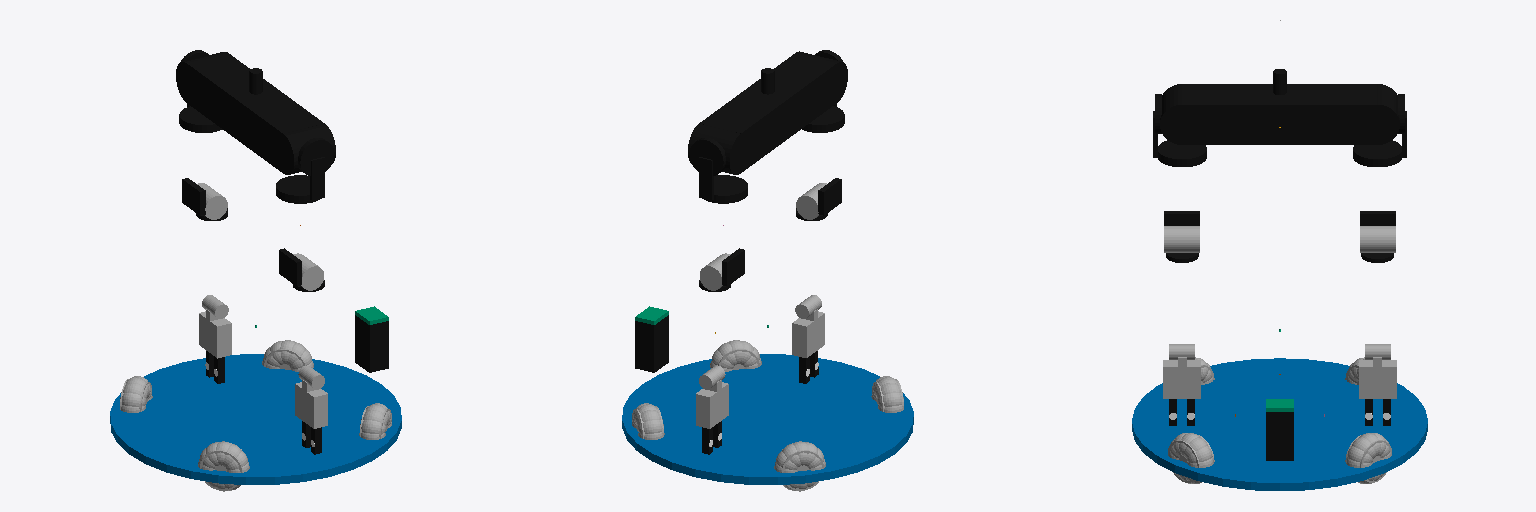
--- Facts derived from the render (not from the file) ---
3 views of the same robot in one strip: view 1: azimuth 30°, elevation 25°; view 2: azimuth 150°, elevation 25°; view 3: azimuth 270°, elevation 25° (orthographic).
Robot: amigo — 126 links, 125 joints (24 revolute, 52 continuous, 1 prismatic, 48 fixed); root link base_link; default pose: every joint at zero.
Links seen in each view (by area): view 1: base_plate, clavicles, base_laser, shoulder_mount_right, hand_left, hand_right, upper_arm_top_right, shoulder_link1_right, upper_arm_top_left, elbow_extra_block_left, elbow_extra_block_right, elbow_extra_block2_right (+3 smaller); view 2: base_plate, clavicles, base_laser, shoulder_mount_left, hand_right, hand_left, upper_arm_top_left, shoulder_link1_left, upper_arm_top_right, elbow_extra_block_right, shoulder_mount_right, elbow_extra_block_left (+3 smaller); view 3: base_plate, clavicles, shoulder_mount_right, shoulder_mount_left, hand_right, hand_left, base_laser, upper_arm_top_right, upper_arm_top_left, elbow_extra_block2_right, elbow_extra_block2_left, elbow_extra_block_right (+1 smaller).
Link boxes in pixels (x1=…): base_plate: x1=110, y1=354, x2=401, y2=484; clavicles: x1=187, y1=54, x2=324, y2=172; base_laser: x1=355, y1=315, x2=388, y2=372; shoulder_mount_right: x1=273, y1=124, x2=335, y2=174; hand_left: x1=199, y1=311, x2=231, y2=358; hand_right: x1=295, y1=382, x2=327, y2=428; upper_arm_top_right: x1=276, y1=175, x2=321, y2=203; shoulder_link1_right: x1=298, y1=138, x2=334, y2=175; upper_arm_top_left: x1=179, y1=106, x2=222, y2=132; elbow_extra_block_left: x1=182, y1=178, x2=205, y2=215; elbow_extra_block_right: x1=279, y1=248, x2=301, y2=286; elbow_extra_block2_right: x1=293, y1=253, x2=323, y2=290; base_plate: x1=622, y1=354, x2=913, y2=484; clavicles: x1=699, y1=53, x2=836, y2=172; base_laser: x1=635, y1=315, x2=668, y2=372; shoulder_mount_left: x1=688, y1=124, x2=750, y2=174; hand_right: x1=792, y1=311, x2=824, y2=357; hand_left: x1=696, y1=382, x2=728, y2=428; upper_arm_top_left: x1=702, y1=175, x2=747, y2=203; shoulder_link1_left: x1=689, y1=138, x2=725, y2=175; upper_arm_top_right: x1=802, y1=106, x2=844, y2=132; elbow_extra_block_right: x1=818, y1=178, x2=841, y2=215; shoulder_mount_right: x1=796, y1=51, x2=847, y2=103; elbow_extra_block_left: x1=722, y1=248, x2=744, y2=285; base_plate: x1=1132, y1=358, x2=1427, y2=490; clavicles: x1=1183, y1=84, x2=1376, y2=144; shoulder_mount_right: x1=1160, y1=84, x2=1203, y2=144; shoulder_mount_left: x1=1356, y1=84, x2=1399, y2=144; hand_right: x1=1163, y1=360, x2=1200, y2=398; hand_left: x1=1359, y1=360, x2=1396, y2=398; base_laser: x1=1266, y1=412, x2=1293, y2=460; upper_arm_top_right: x1=1158, y1=140, x2=1206, y2=166; upper_arm_top_left: x1=1353, y1=140, x2=1401, y2=166; elbow_extra_block2_right: x1=1164, y1=226, x2=1199, y2=252; elbow_extra_block2_left: x1=1360, y1=226, x2=1395, y2=252; elbow_extra_block_right: x1=1164, y1=211, x2=1199, y2=225.
Size in the robot's own frame: 0.6681 by 0.666 by 1.05 metres.
14 mesh visuals loaded from 10 distinct referenced files (10 Collada DAE).

URDF robot description (amigo):
<?xml version="1.0" ?>
<!-- =================================================================================== -->
<!-- |    This document was autogenerated by xacro from robot_complex.urdf.xacro       | -->
<!-- |    EDITING THIS FILE BY HAND IS NOT RECOMMENDED                                 | -->
<!-- =================================================================================== -->
<robot name="amigo" xmlns:controller="http://playerstage.sourceforge.net/gazebo/xmlschema/#controller" xmlns:interface="http://playerstage.sourceforge.net/gazebo/xmlschema/#interface" xmlns:sensor="http://playerstage.sourceforge.net/gazebo/xmlschema/#sensor" xmlns:xacro="http://ros.org/wiki/xacro">
  <author>Rob Janssen</author>
  <license>BSD</license>
  <review notes="" status="unreviewed"/>
  <!--get link & joint definitions -->
  <author>Kris van Tienhoven</author>
  <license>BSD</license>
  <review notes="" status="unreviewed"/>
  <!--get custom materials -->
  <author>Kris van Tienhoven</author>
  <license>BSD</license>
  <review notes="" status="unreviewed"/>
  <material name="Blue">
    <color rgba="0.0 0.0 0.8 1.0"/>
  </material>
  <material name="Green">
    <color rgba="0.0 0.8 0.0 1.0"/>
  </material>
  <material name="Grey">
    <color rgba="0.7 0.7 0.7 1.0"/>
  </material>
  <material name="Grey2">
    <color rgba="0.9 0.9 0.9 1.0"/>
  </material>
  <material name="Red">
    <color rgba="0.8 0.0 0.0 1.0"/>
  </material>
  <material name="White">
    <color rgba="1.0 1.0 1.0 1.0"/>
  </material>
  <material name="Black">
    <color rgba="0.1 0.1 0.1 1.0"/>
  </material>
  <material name="LightGrey">
    <color rgba="0.6 0.6 0.6 1.0"/>
  </material>
  <material name="bottomcovers">
    <texture filename="package://amigo_robot_model_groovy/Media/materials/textures/bottomcovers/finalreduced.jpg"/>
  </material>
  <material name="white">
    <texture filename="package://amigo_robot_model_groovy/Media/materials/textures/white/white.jpg"/>
  </material>
  <material name="logo">
    <texture filename="package://amigo_robot_model_groovy/Media/materials/textures/logo/tue.jpg"/>
  </material>
  <material name="aluminum">
    <texture filename="package://amigo_robot_model_groovy/Media/materials/textures/aluminum/aluminium_0001_c.jpg"/>
  </material>
  <material name="orange">
    <texture filename="package://amigo_robot_model_groovy/Media/materials/textures/orange/orange.jpg"/>
  </material>
  <!--========BUILD BODY======-->
  <author>Rob Janssen, Kris van Tienhoven</author>
  <license>BSD</license>
  <review notes="" status="unreviewed"/>
  <link name="torso">
    <inertial>
      <origin rpy="0 0 0" xyz="0.0 0.0 0.0"/>
      <mass value="16"/>
      <inertia ixx="0.01" ixy="0" ixz="0" iyy="0.01" iyz="0" izz="0.01"/>
    </inertial>
    <visual>
      <origin rpy="-1.5708 0 -1.5708" xyz="0.045 0.0 0.06"/>
      <geometry>
        <mesh filename="package://amigo_robot_model_groovy/Media/meshes/torsocovers.dae" scale="0.0004 0.0004 0.0004"/>
      </geometry>
      <material name="white"/>
    </visual>
    <collision>
      <origin rpy="-1.5708 0 -1.5708" xyz="0.045 0.0 0.06"/>
      <geometry>
        <mesh filename="package://amigo_robot_model_groovy/Media/meshes/torsocovers.dae" scale="0.0004 0.0004 0.0004"/>
      </geometry>
    </collision>
  </link>
  <gazebo reference="torso">
    <material>amigo_robot_model_groovy/white</material>
    <turnGravityOff>false</turnGravityOff>
  </gazebo>
  <link name="torso_slider">
    <inertial>
      <origin rpy="0 0 0" xyz="0 0 0"/>
      <mass value="0.1"/>
      <inertia ixx="0.01" ixy="0" ixz="0" iyy="0.01" iyz="0" izz="0.01"/>
    </inertial>
    <visual>
      <origin rpy="0 0 1.5708" xyz="0.05 0 0.0"/>
      <geometry>
        <mesh filename="package://amigo_robot_model_groovy/Media/meshes/torsoslidertextured.dae" scale="0.004 0.004 0.004"/>
      </geometry>
      <material name="aluminum"/>
    </visual>
    <collision>
      <origin rpy="0 0 1.5708" xyz="0.05 0 0.0"/>
      <geometry>
        <mesh filename="package://amigo_robot_model_groovy/Media/meshes/torsoslidertextured.dae" scale="0.004 0.004 0.004"/>
      </geometry>
    </collision>
  </link>
  <gazebo reference="torso_slider">
    <material>amigo_robot_model_groovy/aluminum</material>
    <turnGravityOff>false</turnGravityOff>
  </gazebo>
  <link name="base">
    <inertial>
      <origin rpy="0 0 0" xyz="0.0 0.0 0.3275"/>
      <mass value="20"/>
      <inertia ixx="2.63" ixy="0" ixz="0" iyy="2.63" iyz="0" izz="2.4"/>
    </inertial>
    <visual>
      <origin rpy="0 0 -1.5708" xyz="0.0 0.0 0.23"/>
      <geometry>
        <mesh filename="package://amigo_robot_model_groovy/Media/meshes/bottomcovers.dae" scale="0.0004 0.0004 0.0004"/>
      </geometry>
      <material name="bottomcovers"/>
    </visual>
    <collision>
      <origin rpy="0 0 -1.5708" xyz="0.0 0.0 0.23"/>
      <geometry>
        <mesh filename="package://amigo_robot_model_groovy/Media/meshes/bottomcovers.dae" scale="0.0004 0.0004 0.0004"/>
      </geometry>
    </collision>
  </link>
  <gazebo reference="base">
    <material>amigo_robot_model_groovy/bottomcovers</material>
    <turnGravityOff>false</turnGravityOff>
  </gazebo>
  <link name="base_link">
    <inertial>
      <origin rpy="0 0 0" xyz="0.0 0.0 0.0"/>
      <mass value="0"/>
      <inertia ixx="0" ixy="0" ixz="0" iyy="0" iyz="0" izz="0"/>
    </inertial>
    <visual>
      <origin rpy="0 0 0" xyz="0.0 0.0 0.0"/>
      <geometry>
        <cylinder length="0.00" radius="0.0"/>
      </geometry>
      <material name="Red">
     </material>
    </visual>
    <collision>
      <origin rpy="0 0 0" xyz="0.0 0.0 0.0"/>
      <geometry>
        <cylinder length="0.00" radius="0.0"/>
      </geometry>
    </collision>
  </link>
  <gazebo reference="base_link">
    <material>Gazebo/Red</material>
    <turnGravityOff>false</turnGravityOff>
  </gazebo>
  <joint name="spindle_joint" type="prismatic">
    <parent link="base"/>
    <child link="torso_slider"/>
    <axis xyz="1 0 0"/>
    <origin rpy="3.14159265 -1.5708 0" xyz="0.0 0.0 0.58"/>
    <dynamics damping="3" friction="0.0"/>
    <!--*-->
    <limit effort="30" lower="0.0" upper="0.41" velocity="1.0"/>
    <!--*-->
  </joint>
  <joint name="base_link_joint" type="fixed">
    <parent link="base_link"/>
    <child link="base"/>
    <axis xyz="1 0 0"/>
    <origin rpy="0 0 0" xyz="0.0 0.0 0.055"/>
  </joint>
  <joint name="torso_slider_joint" type="fixed">
    <parent link="torso_slider"/>
    <child link="torso"/>
    <axis xyz="1 0 0"/>
    <origin rpy="0 0 0" xyz="0.135 0.0 0.0"/>
  </joint>
  <!--extra body visuals-->
  <author>Kris van Tienhoven</author>
  <license>BSD</license>
  <review notes="" status="unreviewed"/>
  <link name="base_plate">
    <inertial>
      <origin rpy="0 0 0" xyz="0.0 0.0 0.0"/>
      <mass value="0.1"/>
      <inertia ixx="0.01" ixy="0" ixz="0" iyy="0.01" iyz="0" izz="0.01"/>
    </inertial>
    <visual>
      <origin rpy="0 0 0" xyz="0.0 0.0 0.0"/>
      <geometry>
        <cylinder length="0.02" radius="0.333"/>
      </geometry>
      <material name="aluminum">
     </material>
    </visual>
    <collision>
      <origin rpy="0 0 0" xyz="0.0 0.0 0.0"/>
      <geometry>
        <cylinder length="0.02" radius="0.333"/>
      </geometry>
    </collision>
  </link>
  <gazebo reference="base_plate">
    <material>amigo_robot_model_groovy/aluminum</material>
    <turnGravityOff>false</turnGravityOff>
  </gazebo>
  <joint name="base_plate_joint" type="fixed">
    <parent link="base_link"/>
    <child link="base_plate"/>
    <axis xyz="1 0 0"/>
    <origin rpy="0 0 0" xyz="0.0 0.0 0.05"/>
  </joint>
  <link name="torso_assist_slider_right">
    <inertial>
      <origin rpy="0 0 0" xyz="0 0 0"/>
      <mass value="0.01"/>
      <inertia ixx="0.01" ixy="0" ixz="0" iyy="0.01" iyz="0" izz="0.01"/>
    </inertial>
    <visual>
      <origin rpy="0 1.5708 0" xyz="-0.4  0.0 0.0"/>
      <geometry>
        <mesh filename="package://amigo_robot_model_groovy/Media/meshes/torsoassistslidertextured.dae" scale="0.004 0.004 0.005"/>
      </geometry>
      <material name="aluminum"/>
    </visual>
    <collision>
      <origin rpy="0 1.5708 0" xyz="-0.4  0.0 0.0"/>
      <geometry>
        <mesh filename="package://amigo_robot_model_groovy/Media/meshes/torsoassistslidertextured.dae" scale="0.004 0.004 0.005"/>
      </geometry>
    </collision>
  </link>
  <gazebo reference="torso_assist_slider_right">
    <material>amigo_robot_model_groovy/aluminum</material>
    <turnGravityOff>false</turnGravityOff>
  </gazebo>
  <link name="torso_assist_slider_left">
    <inertial>
      <origin rpy="0 0 0" xyz="0 0 0"/>
      <mass value="0.01"/>
      <inertia ixx="0.01" ixy="0" ixz="0" iyy="0.01" iyz="0" izz="0.01"/>
    </inertial>
    <visual>
      <origin rpy="0 1.5708 0" xyz="-0.4  0.0 0.0"/>
      <geometry>
        <mesh filename="package://amigo_robot_model_groovy/Media/meshes/torsoassistslidertextured.dae" scale="0.004 0.004 0.005"/>
      </geometry>
      <material name="aluminum"/>
    </visual>
    <collision>
      <origin rpy="0 1.5708 0" xyz="-0.4  0.0 0.0"/>
      <geometry>
        <mesh filename="package://amigo_robot_model_groovy/Media/meshes/torsoassistslidertextured.dae" scale="0.004 0.004 0.005"/>
      </geometry>
    </collision>
  </link>
  <gazebo reference="torso_assist_slider_left">
    <material>amigo_robot_model_groovy/aluminum</material>
    <turnGravityOff>false</turnGravityOff>
  </gazebo>
  <link name="torso_assist_slider_back">
    <inertial>
      <origin rpy="0 0 0" xyz="0 0 0"/>
      <mass value="0.01"/>
      <inertia ixx="0.01" ixy="0" ixz="0" iyy="0.01" iyz="0" izz="0.01"/>
    </inertial>
    <visual>
      <origin rpy="0 1.5708 0" xyz="-0.4 0.0 0.0"/>
      <geometry>
        <mesh filename="package://amigo_robot_model_groovy/Media/meshes/torsoassistslidertextured.dae" scale="0.004 0.004 0.005"/>
      </geometry>
      <material name="aluminum"/>
    </visual>
    <collision>
      <origin rpy="0 1.5708 0" xyz="-0.4 0.0 0.0"/>
      <geometry>
        <mesh filename="package://amigo_robot_model_groovy/Media/meshes/torsoassistslidertextured.dae" scale="0.004 0.004 0.005"/>
      </geometry>
    </collision>
  </link>
  <gazebo reference="torso_assist_slider_back">
    <material>amigo_robot_model_groovy/aluminum</material>
    <turnGravityOff>false</turnGravityOff>
  </gazebo>
  <joint name="torso_slider_assist_joint_right" type="fixed">
    <parent link="torso"/>
    <child link="torso_assist_slider_right"/>
    <origin rpy="0 0 0" xyz="-0.3 0.1 0.0"/>
  </joint>
  <joint name="torso_slider_assist_joint_left" type="fixed">
    <parent link="torso"/>
    <child link="torso_assist_slider_left"/>
    <origin rpy="0 0 0" xyz="-0.3 -0.1 0.0"/>
  </joint>
  <joint name="torso_slider_assist_joint_back" type="fixed">
    <parent link="torso"/>
    <child link="torso_assist_slider_back"/>
    <origin rpy="1.5708 0 0" xyz="-0.3 0.0 -0.1"/>
  </joint>
  <link name="clavicles">
    <inertial>
      <origin rpy="0 0 0" xyz="0 0 0"/>
      <mass value="0.01"/>
      <inertia ixx="0.01" ixy="0" ixz="0" iyy="0.01" iyz="0" izz="0.01"/>
    </inertial>
    <visual>
      <origin rpy="0 0 0" xyz="0.0 0.0 0.0"/>
      <geometry>
        <box size="0.1 0.436 0.11"/>
      </geometry>
      <material name="Black">
     </material>
    </visual>
    <collision>
      <origin rpy="0 0 0" xyz="0.0 0.0 0.0"/>
      <geometry>
        <box size="0.1 0.436 0.11"/>
      </geometry>
    </collision>
  </link>
  <gazebo reference="clavicles">
    <material>Gazebo/Black</material>
    <turnGravityOff>false</turnGravityOff>
  </gazebo>
  <joint name="clavicle_joint" type="fixed">
    <parent link="torso"/>
    <child link="clavicles"/>
    <origin rpy="0 0 0" xyz="0.05 0.0 0.0"/>
  </joint>
  <!--========BUILD LASER======-->
  <author>Kris van Tienhoven</author>
  <license>BSD</license>
  <review notes="" status="unreviewed"/>
  <link name="base_laser">
    <inertial>
      <origin rpy="0 0 0" xyz="0.0 0.0 0.0"/>
      <mass value="0.5"/>
      <inertia ixx="0.0001" ixy="0" ixz="0" iyy="0.0001" iyz="0" izz="0.0001"/>
    </inertial>
    <visual>
      <origin rpy="0 0 0" xyz="-0.005 0.0 -0.065"/>
      <geometry>
        <box size="0.05 0.065 0.12"/>
      </geometry>
      <material name="Black">
     </material>
    </visual>
    <collision>
      <origin rpy="0 0 0" xyz="-0.005 0.0 -0.065"/>
      <geometry>
        <box size="0.05 0.065 0.12"/>
      </geometry>
    </collision>
  </link>
  <gazebo reference="base_laser">
    <material>Gazebo/Black</material>
    <turnGravityOff>false</turnGravityOff>
  </gazebo>
  <joint name="base_laser_joint" type="fixed">
    <parent link="base"/>
    <child link="base_laser"/>
    <origin rpy="0 0 0" xyz="0.31 0.0 0.185"/>
    <axis xyz="0 1 0"/>
    <dynamics damping="0.1" friction="0"/>
    <limit effort="13.4" lower="-0.7809" upper="1.5708" velocity="1.0"/>
  </joint>
  <link name="lasertop">
    <inertial>
      <origin rpy="0 0 0" xyz="0.0 0.0 0.0"/>
      <mass value="0.01"/>
      <inertia ixx="0.0001" ixy="0" ixz="0" iyy="0.0001" iyz="0" izz="0.0001"/>
    </inertial>
    <visual>
      <origin rpy="0 0 0" xyz="-0.005 0.0 0.0"/>
      <geometry>
        <box size="0.05 0.065 0.01"/>
      </geometry>
      <material name="orange">
     </material>
    </visual>
    <collision>
      <origin rpy="0 0 0" xyz="-0.005 0.0 0.0"/>
      <geometry>
        <box size="0.05 0.065 0.01"/>
      </geometry>
    </collision>
  </link>
  <gazebo reference="lasertop">
    <material>amigo_robot_model_groovy/orange</material>
    <turnGravityOff>false</turnGravityOff>
  </gazebo>
  <joint name="lasertop_joint" type="fixed">
    <parent link="base_laser"/>
    <child link="lasertop"/>
  </joint>
  <link name="logo">
    <inertial>
      <origin rpy="0 0 0" xyz="0.0 0.0 0.0"/>
      <mass value="0.01"/>
      <inertia ixx="0.0001" ixy="0" ixz="0" iyy="0.0001" iyz="0" izz="0.0001"/>
    </inertial>
    <visual>
      <origin rpy="0 0 3.1415" xyz="0.025 0.0 -0.14"/>
      <geometry>
        <mesh filename="package://amigo_robot_model_groovy/Media/meshes/logo.dae" scale="0.0016 0.0016 0.0016"/>
      </geometry>
      <material name="logo"/>
    </visual>
    <collision>
      <origin rpy="0 0 3.1415" xyz="0.025 0.0 -0.14"/>
      <geometry>
        <mesh filename="package://amigo_robot_model_groovy/Media/meshes/logo.dae" scale="0.0016 0.0016 0.0016"/>
      </geometry>
    </collision>
  </link>
  <gazebo reference="logo">
    <material>amigo_robot_model_groovy/logo</material>
    <turnGravityOff>false</turnGravityOff>
  </gazebo>
  <joint name="logo_joint" type="fixed">
    <parent link="base_laser"/>
    <child link="logo"/>
  </joint>
  <!--========BUILD HEAD======-->
  <author>Kris van Tienhoven</author>
  <license>BSD</license>
  <review notes="" status="unreviewed"/>
  <link name="head_mount">
    <inertial>
      <origin rpy="0 0 0" xyz="0.0 0.0 0.0"/>
      <mass value="0.001"/>
      <inertia ixx="0.0001" ixy="0" ixz="0" iyy="0.0001" iyz="0" izz="0.0001"/>
    </inertial>
  </link>
  <joint name="head_mount_joint" type="fixed">
    <parent link="torso"/>
    <child link="head_mount"/>
    <axis xyz="0 0 1"/>
    <origin rpy="  0.0 0.0 0.0" xyz="0.097 0.0 0.0"/>
  </joint>
  <link name="neck_pan">
    <inertial>
      <origin rpy="0 0 0" xyz="0.0 0.0 0.0335"/>
      <mass value="0.05"/>
      <inertia ixx="0.0001" ixy="0" ixz="0" iyy="0.0001" iyz="0" izz="0.0001"/>
    </inertial>
    <visual>
      <origin rpy="0 0 0" xyz="0.0 0.0 0.0335"/>
      <geometry>
        <cylinder length="0.0525" radius="0.015"/>
      </geometry>
      <material name="Black">
     </material>
    </visual>
    <collision>
      <origin rpy="0 0 0" xyz="0.0 0.0 0.0335"/>
      <geometry>
        <cylinder length="0.0525" radius="0.015"/>
      </geometry>
    </collision>
  </link>
  <gazebo reference="neck_pan">
    <material>Gazebo/Black</material>
    <turnGravityOff>false</turnGravityOff>
  </gazebo>
  <link name="neck_tilt">
    <inertial>
      <origin rpy="0 0 0" xyz="0.0 -0.0 0.0285"/>
      <mass value="0.05"/>
      <inertia ixx="0.001" ixy="0" ixz="0" iyy="0.001" iyz="0" izz="0.001"/>
    </inertial>
    <visual>
      <origin rpy="0 0 0" xyz="0.0 -0.0 0.015"/>
      <geometry>
        <mesh filename="package://amigo_robot_model_groovy/Media/meshes/necktilttextured.dae" scale="0.004 0.004 0.004"/>
      </geometry>
      <material name="aluminum"/>
    </visual>
    <collision>
      <origin rpy="0 0 0" xyz="0.0 -0.0 0.015"/>
      <geometry>
        <mesh filename="package://amigo_robot_model_groovy/Media/meshes/necktilttextured.dae" scale="0.004 0.004 0.004"/>
      </geometry>
    </collision>
  </link>
  <gazebo reference="neck_tilt">
    <material>amigo_robot_model_groovy/aluminum</material>
    <turnGravityOff>false</turnGravityOff>
  </gazebo>
  <link name="head">
    <inertial>
      <origin rpy="0 0 0" xyz="0 0 0.041"/>
      <mass value="0"/>
      <inertia ixx="0" ixy="0" ixz="0" iyy="0" iyz="0" izz="0"/>
    </inertial>
    <visual>
      <origin rpy="0 0 -1.5708" xyz="0.0 0.0 0.141"/>
      <geometry>
        <mesh filename="package://amigo_robot_model_groovy/Media/meshes/headtextured.dae" scale="0.0004 0.0004 0.0004"/>
      </geometry>
      <material name="white"/>
    </visual>
    <collision>
      <origin rpy="0 0 -1.5708" xyz="0.0 0.0 0.141"/>
      <geometry>
        <mesh filename="package://amigo_robot_model_groovy/Media/meshes/headtextured.dae" scale="0.0004 0.0004 0.0004"/>
      </geometry>
    </collision>
  </link>
  <gazebo reference="head">
    <material>amigo_robot_model_groovy/white</material>
    <turnGravityOff>false</turnGravityOff>
  </gazebo>
  <joint name="head_joint" type="fixed">
    <parent link="neck_tilt"/>
    <child link="head"/>
  </joint>
  <joint name="neck_pan_joint" type="revolute">
    <parent link="head_mount"/>
    <child link="neck_pan"/>
    <origin rpy="3.14 -1.5708 0.0" xyz="0.0 0.0 0.0"/>
    <axis xyz="0 0 1"/>
    <dynamics damping="0.1" friction="0"/>
    <limit effort="13.4" lower="-1.5708" upper="1.5708" velocity="1.0"/>
  </joint>
  <joint name="neck_tilt_joint" type="revolute">
    <parent link="neck_pan"/>
    <child link="neck_tilt"/>
    <origin rpy="0.0 0.0 0.0" xyz="0.0 0.0 0.0445"/>
    <axis xyz="0 1 0"/>
    <dynamics damping="0.1" friction="0.0"/>
    <limit effort="13.4" lower="-2.0" upper="2.0" velocity="1.0"/>
  </joint>
  <!--========BUILD KINECT======-->
  <joint name="base_kinect_joint" type="fixed">
    <origin rpy="0 0 0" xyz="0.07 0 0.07"/>
    <!-- THESE VALUES ARE ROUGH ESTIMATES!! -->
    <parent link="head"/>
    <child link="openni_camera"/>
  </joint>
  <link name="openni_camera">
    <inertial>
      <mass value="0.01"/>
      <origin xyz="0 0 0"/>
      <inertia ixx="0.001" ixy="0.0" ixz="0.0" iyy="0.001" iyz="0.0" izz="0.001"/>
    </inertial>
    <visual>
      <origin rpy="0 0 0" xyz=" 0 0 0 "/>
      <geometry>
        <box size="0 0 0"/>
        <!--mesh filename="package://amigo_robot_model_groovy/kinect/meshes/kinect.dae" scale="0.001 0.001 0.001"/-->
        <!--<mesh filename="package://amigo_robot_model_groovy/kinect/meshes/kinect_without_base.dae"/>-->
      </geometry>
    </visual>
    <!--<collision>
      <origin xyz="-0.0365 0.0 0.0" rpy="0 0 0" />
      <geometry>
        <box size="0.0730 .2760 0.0720"/>
      </geometry>
    </collision>-->
  </link>
  <joint name="kinect_depth_joint" type="fixed">
    <origin rpy="0 0 0" xyz="0 0.018 0"/>
    <parent link="openni_camera"/>
    <child link="openni_depth_frame"/>
  </joint>
  <link name="openni_depth_frame">
    <inertial>
      <mass value="0.01"/>
      <origin xyz="0 0 0"/>
      <inertia ixx="0.001" ixy="0.0" ixz="0.0" iyy="0.001" iyz="0.0" izz="0.001"/>
    </inertial>
  </link>
  <joint name="kinect_depth_optical_joint" type="fixed">
    <origin rpy="-1.570795 0 -1.570795" xyz="0 0 0"/>
    <parent link="openni_depth_frame"/>
    <child link="openni_depth_optical_frame"/>
  </joint>
  <link name="openni_depth_optical_frame">
    <inertial>
      <mass value="0.001"/>
      <origin xyz="0 0 0"/>
      <inertia ixx="0.0001" ixy="0.0" ixz="0.0" iyy="0.0001" iyz="0.0" izz="0.0001"/>
    </inertial>
  </link>
  <joint name="kinect_rgb_joint" type="fixed">
    <origin rpy="0 0 0" xyz="0 -0.005 0"/>
    <parent link="openni_camera"/>
    <child link="openni_rgb_frame"/>
  </joint>
  <link name="openni_rgb_frame">
    <inertial>
      <mass value="0.001"/>
      <origin xyz="0 0 0"/>
      <inertia ixx="0.0001" ixy="0.0" ixz="0.0" iyy="0.0001" iyz="0.0" izz="0.0001"/>
    </inertial>
  </link>
  <joint name="kinect_rgb_optical_joint" type="fixed">
    <origin rpy="-1.570795 0 -1.570795" xyz="0 0 0"/>
    <parent link="openni_rgb_frame"/>
    <child link="openni_rgb_optical_frame"/>
  </joint>
  <link name="openni_rgb_optical_frame">
    <inertial>
      <mass value="0.001"/>
      <origin xyz="0 0 0"/>
      <inertia ixx="0.0001" ixy="0.0" ixz="0.0" iyy="0.0001" iyz="0.0" izz="0.0001"/>
    </inertial>
  </link>
  <joint name="base_kinect_base_kinect_joint" type="fixed">
    <origin rpy="0 -0.07 0" xyz="0.3 0 0.26"/>
    <!-- THESE VALUES STILL HAVE TO BE CALIBRATED!! -->
    <parent link="base"/>
    <child link="base_kinect_openni_camera"/>
  </joint>
  <link name="base_kinect_openni_camera">
    <inertial>
      <mass value="0.01"/>
      <origin xyz="0 0 0"/>
      <inertia ixx="0.001" ixy="0.0" ixz="0.0" iyy="0.001" iyz="0.0" izz="0.001"/>
    </inertial>
    <visual>
      <origin rpy="0 0 0" xyz=" 0 0 0 "/>
      <geometry>
        <!--<box size="0 0 0"/>-->
        <!--mesh filename="package://amigo_robot_model_groovy/description/kinect/meshes/kinect.dae" scale="0.001 0.001 0.001"/-->
        <mesh filename="package://amigo_robot_model_groovy/description/kinect/meshes/kinect_without_base.dae"/>
      </geometry>
    </visual>
    <collision>
      <origin rpy="0 0 0" xyz=" 0 0 0 "/>
      <geometry>
        <!--<box size="0.01 0.01 0.01"/>-->
        <!--<mesh filename="package://amigo_robot_model_groovy/description/kinect/meshes/kinect.dae" scale="0.001 0.001 0.001"/>-->
        <mesh filename="package://amigo_robot_model_groovy/description/kinect/meshes/kinect_without_base.dae"/>
      </geometry>
    </collision>
  </link>
  <joint name="base_kinect_kinect_depth_joint" type="fixed">
    <origin rpy="0 0 0" xyz="0 0.018 0"/>
    <parent link="base_kinect_openni_camera"/>
    <child link="base_kinect_openni_depth_frame"/>
  </joint>
  <link name="base_kinect_openni_depth_frame">
    <inertial>
      <mass value="0.01"/>
      <origin xyz="0 0 0"/>
      <inertia ixx="0.001" ixy="0.0" ixz="0.0" iyy="0.001" iyz="0.0" izz="0.001"/>
    </inertial>
  </link>
  <joint name="base_kinect_kinect_depth_optical_joint" type="fixed">
    <origin rpy="-1.570795 0 -1.570795" xyz="0 0 0"/>
    <parent link="base_kinect_openni_depth_frame"/>
    <child link="base_kinect_openni_depth_optical_frame"/>
  </joint>
  <link name="base_kinect_openni_depth_optical_frame">
    <inertial>
      <mass value="0.001"/>
      <origin xyz="0 0 0"/>
      <inertia ixx="0.0001" ixy="0.0" ixz="0.0" iyy="0.0001" iyz="0.0" izz="0.0001"/>
    </inertial>
  </link>
  <joint name="base_kinect_kinect_rgb_joint" type="fixed">
    <origin rpy="0 0 0" xyz="0 -0.005 0"/>
    <parent link="base_kinect_openni_camera"/>
    <child link="base_kinect_openni_rgb_frame"/>
  </joint>
  <link name="base_kinect_openni_rgb_frame">
    <inertial>
      <mass value="0.001"/>
      <origin xyz="0 0 0"/>
      <inertia ixx="0.0001" ixy="0.0" ixz="0.0" iyy="0.0001" iyz="0.0" izz="0.0001"/>
    </inertial>
  </link>
  <joint name="base_kinect_kinect_rgb_optical_joint" type="fixed">
    <origin rpy="-1.570795 0 -1.570795" xyz="0 0 0"/>
    <parent link="base_kinect_openni_rgb_frame"/>
    <child link="base_kinect_openni_rgb_optical_frame"/>
  </joint>
  <link name="base_kinect_openni_rgb_optical_frame">
    <inertial>
      <mass value="0.001"/>
      <origin xyz="0 0 0"/>
      <inertia ixx="0.0001" ixy="0.0" ixz="0.0" iyy="0.0001" iyz="0.0" izz="0.0001"/>
    </inertial>
  </link>
  <!--========BUILD ARMS======-->
  <author>Rob Janssen, Kris van Tienhoven</author>
  <license>BSD</license>
  <review notes="" status="unreviewed"/>
  <link name="shoulder_mount_right">
    <inertial>
      <origin rpy="0 0 0" xyz="0.0 0.0 0.0"/>
      <mass value="0.1"/>
      <inertia ixx="0.01" ixy="0" ixz="0" iyy="0.01" iyz="0" izz="0.01"/>
    </inertial>
    <visual>
      <origin rpy="0 0 0 " xyz="0.0 0.0 0.0"/>
      <geometry>
        <cylinder length="0.11" radius="0.05"/>
      </geometry>
      <material name="Black">
     </material>
    </visual>
    <collision>
      <origin rpy="0 0 0 " xyz="0.0 0.0 0.0"/>
      <geometry>
        <cylinder length="0.11" radius="0.05"/>
      </geometry>
    </collision>
  </link>
  <gazebo reference="shoulder_mount_right">
    <material>Gazebo/Black</material>
    <turnGravityOff>false</turnGravityOff>
  </gazebo>
  <link name="shoulder_link1_right">
    <inertial>
      <origin rpy="0 0 0" xyz="0.0 0.0 0.0"/>
      <mass value="0.1"/>
      <inertia ixx="0.01" ixy="0" ixz="0" iyy="0.01" iyz="0" izz="0.01"/>
    </inertial>
    <visual>
      <origin rpy="0 0 0 " xyz="0.0 0.0 0.0525"/>
      <geometry>
        <cylinder length="0.015" radius="0.045"/>
      </geometry>
      <material name="Black">
     </material>
    </visual>
    <collision>
      <origin rpy="0 0 0 " xyz="0.0 0.0 0.0525"/>
      <geometry>
        <cylinder length="0.015" radius="0.045"/>
      </geometry>
    </collision>
  </link>
  <gazebo reference="shoulder_link1_right">
    <material>Gazebo/Black</material>
    <turnGravityOff>false</turnGravityOff>
  </gazebo>
  <link name="shoulder_link2_right">
    <inertial>
      <origin rpy="0 0 0" xyz="0.0 0.0 0.0"/>
      <mass value="0.1"/>
      <inertia ixx="0.001" ixy="0" ixz="0" iyy="0.001" iyz="0" izz="0.001"/>
    </inertial>
    <visual>
      <origin rpy="0 0 0" xyz="0.0 -0.06 -0.05"/>
      <geometry>
        <box size="0.035 0.01 0.1"/>
      </geometry>
      <material name="Black">
     </material>
    </visual>
    <collision>
      <origin rpy="0 0 0" xyz="0.0 -0.06 -0.05"/>
      <geometry>
        <box size="0.035 0.01 0.1"/>
      </geometry>
    </collision>
  </link>
  <gazebo reference="shoulder_link2_right">
    <material>Gazebo/Black</material>
    <turnGravityOff>false</turnGravityOff>
  </gazebo>
  <link name="upper_arm_right">
    <inertial>
      <origin rpy="0 0 0" xyz="0.0 -0.2 0.0"/>
      <mass value="2.9"/>
      <inertia ixx="0.027" ixy="0" ixz="0" iyy="0.027" iyz="0" izz="0.004"/>
    </inertial>
    <visual>
      <origin rpy="0 0 3.1415" xyz="-0.00959 -0.19131 -0.00001"/>
      <geometry>
        <mesh filename="package://amigo_robot_model_groovy/Media/meshes/upperarmtextured.dae" scale="0.0004 0.0004 0.0004"/>
      </geometry>
      <material name="white"/>
    </visual>
    <collision>
      <origin rpy="0 0 3.1415" xyz="-0.00959 -0.19131 -0.00001"/>
      <geometry>
        <mesh filename="package://amigo_robot_model_groovy/Media/meshes/upperarmtextured.dae" scale="0.0004 0.0004 0.0004"/>
      </geometry>
    </collision>
  </link>
  <gazebo reference="upper_arm_right">
    <material>amigo_robot_model_groovy/white</material>
    <turnGravityOff>false</turnGravityOff>
  </gazebo>
  <link name="elbow_link4_right">
    <inertial>
      <origin rpy="0 0 0" xyz="0.0 0.0 0.0"/>
      <mass value="0.1"/>
      <inertia ixx="0.001" ixy="0" ixz="0" iyy="0.001" iyz="0" izz="0.001"/>
    </inertial>
    <visual>
      <origin rpy="0 0 0" xyz="0.0 0.0 0.0"/>
      <geometry>
        <cylinder length="0.0" radius="0.0"/>
      </geometry>
      <material name="Grey">
     </material>
    </visual>
    <collision>
      <origin rpy="0 0 0" xyz="0.0 0.0 0.0"/>
      <geometry>
        <cylinder length="0.0" radius="0.0"/>
      </geometry>
    </collision>
  </link>
  <gazebo reference="elbow_link4_right">
    <material>Gazebo/Grey</material>
    <turnGravityOff>false</turnGravityOff>
  </gazebo>
  <link name="fore_arm_right">
    <inertial>
      <origin rpy="0.0 0 0" xyz="0.0 -0.14 0.0"/>
      <mass value="0.1"/>
      <inertia ixx="0.0054" ixy="0" ixz="0" iyy="0.0054" iyz="0" izz="0.0004"/>
    </inertial>
    <visual>
      <origin rpy="0 -1.5708 0" xyz="0.00425 -0.14868 0.00547"/>
      <geometry>
        <mesh filename="package://amigo_robot_model_groovy/Media/meshes/forearmtextured.dae" scale="0.0004 0.0004 0.0004"/>
      </geometry>
      <material name="white"/>
    </visual>
    <collision>
      <origin rpy="0 -1.5708 0" xyz="0.00425 -0.14868 0.00547"/>
      <geometry>
        <mesh filename="package://amigo_robot_model_groovy/Media/meshes/forearmtextured.dae" scale="0.0004 0.0004 0.0004"/>
      </geometry>
    </collision>
  </link>
  <gazebo reference="fore_arm_right">
    <material>amigo_robot_model_groovy/white</material>
    <turnGravityOff>false</turnGravityOff>
  </gazebo>
  <link name="wrist_link6_right">
    <inertial>
      <origin rpy="0 0 0" xyz="0.0 0.0 0.0"/>
      <mass value="0.01"/>
      <inertia ixx="0.001" ixy="0" ixz="0" iyy="0.001" iyz="0" izz="0.001"/>
    </inertial>
    <visual>
      <origin rpy="1.5708 0 0" xyz="0.0 0.0 0.0"/>
      <geometry>
        <cylinder length="0.0" radius="0.0"/>
      </geometry>
      <material name="Black">
     </material>
    </visual>
    <collision>
      <origin rpy="1.5708 0 0" xyz="0.0 0.0 0.0"/>
      <geometry>
        <cylinder length="0.0" radius="0.0"/>
      </geometry>
    </collision>
  </link>
  <gazebo reference="wrist_link6_right">
    <material>Gazebo/Black</material>
    <turnGravityOff>false</turnGravityOff>
  </gazebo>
  <link name="hand_right">
    <inertial>
      <origin rpy="0 0 0" xyz="0.048 0.0 0.0"/>
      <mass value="0.2"/>
      <inertia ixx="0.01" ixy="0" ixz="0" iyy="0.01" iyz="0" izz="0.01"/>
    </inertial>
    <visual>
      <origin rpy="0 0 0" xyz="0.048 0.0 0.0"/>
      <geometry>
        <box size="0.080 0.085 0.038"/>
      </geometry>
      <material name="Grey">
     </material>
    </visual>
    <collision>
      <origin rpy="0 0 0" xyz="0.048 0.0 0.0"/>
      <geometry>
        <box size="0.080 0.085 0.038"/>
      </geometry>
    </collision>
  </link>
  <gazebo reference="hand_right">
    <material>Gazebo/Grey</material>
    <turnGravityOff>false</turnGravityOff>
  </gazebo>
  <link name="finger1_right">
    <inertial>
      <origin rpy="0 0 0" xyz="0.0 0.0 -0.03"/>
      <mass value="0.05"/>
      <inertia ixx="0.01" ixy="0" ixz="0" iyy="0.01" iyz="0" izz="0.01"/>
    </inertial>
    <visual>
      <origin rpy="0 0 0" xyz="0.0 0.0 -0.03"/>
      <geometry>
        <box size="0.018 0.018 0.06"/>
      </geometry>
      <material name="Black">
     </material>
    </visual>
    <collision>
      <origin rpy="0 0 0" xyz="0.0 0.0 -0.03"/>
      <geometry>
        <box size="0.018 0.018 0.06"/>
      </geometry>
    </collision>
  </link>
  <gazebo reference="finger1_right">
    <material>Gazebo/Black</material>
    <turnGravityOff>false</turnGravityOff>
  </gazebo>
  <gazebo reference="finger1_right">
    <mu1 value="100.0"/>
    <mu2 value="100.0"/>
  </gazebo>
  <link name="finger1_phalanx_right">
    <inertial>
      <origin rpy="0 0 0" xyz="0.0 0.0 0"/>
      <mass value="0.01"/>
      <inertia ixx="0.001" ixy="0" ixz="0" iyy="0.001" iyz="0" izz="0.001"/>
    </inertial>
    <visual>
      <origin rpy="0 0 0" xyz="0.0 0.0 0"/>
      <geometry>
        <cylinder length="0.019" radius="0.009"/>
      </geometry>
      <material name="White">
     </material>
    </visual>
    <collision>
      <origin rpy="0 0 0" xyz="0.0 0.0 0"/>
      <geometry>
        <cylinder length="0.019" radius="0.009"/>
      </geometry>
    </collision>
  </link>
  <gazebo reference="finger1_phalanx_right">
    <material>Gazebo/White</material>
    <turnGravityOff>false</turnGravityOff>
  </gazebo>
  <link name="finger1_tip_right">
    <inertial>
      <origin rpy="0 0 0" xyz="0.0 0.0 -0.03"/>
      <mass value="0.05"/>
      <inertia ixx="0.00037" ixy="0" ixz="0" iyy="0.00052" iyz="0" izz="0.00052"/>
    </inertial>
    <visual>
      <origin rpy="0 0 0" xyz="0.0 0.0 -0.03"/>
      <geometry>
        <box size="0.018 0.018 0.06"/>
      </geometry>
      <material name="Black">
     </material>
    </visual>
    <collision>
      <origin rpy="0 0 0" xyz="0.0 0.0 -0.03"/>
      <geometry>
        <box size="0.018 0.018 0.06"/>
      </geometry>
    </collision>
  </link>
  <gazebo reference="finger1_tip_right">
    <material>Gazebo/Black</material>
    <turnGravityOff>false</turnGravityOff>
  </gazebo>
  <gazebo reference="finger1_tip_right">
    <mu1 value="100.0"/>
    <mu2 value="100.0"/>
  </gazebo>
  <link name="finger1_tip_phalanx_right">
    <inertial>
      <origin rpy="0 0 0" xyz="0.0 0.0 0"/>
      <mass value="0.01"/>
      <inertia ixx="0.001" ixy="0" ixz="0" iyy="0.001" iyz="0" izz="0.001"/>
    </inertial>
    <visual>
      <origin rpy="0 0 0" xyz="0.0 0.0 0"/>
      <geometry>
        <cylinder length="0.017" radius="0.009"/>
      </geometry>
      <material name="White">
     </material>
    </visual>
    <collision>
      <origin rpy="0 0 0" xyz="0.0 0.0 0"/>
      <geometry>
        <cylinder length="0.017" radius="0.009"/>
      </geometry>
    </collision>
  </link>
  <gazebo reference="finger1_tip_phalanx_right">
    <material>Gazebo/White</material>
    <turnGravityOff>false</turnGravityOff>
  </gazebo>
  <link name="finger2_right">
    <inertial>
      <origin rpy="0 0 0" xyz="0.0 0.0 -0.03"/>
      <mass value="0.05"/>
      <inertia ixx="0.01" ixy="0" ixz="0" iyy="0.01" iyz="0" izz="0.01"/>
    </inertial>
    <visual>
      <origin rpy="0 0 0" xyz="0.0 0.0 -0.03"/>
      <geometry>
        <box size="0.018 0.018 0.06"/>
      </geometry>
      <material name="Black">
     </material>
    </visual>
    <collision>
      <origin rpy="0 0 0" xyz="0.0 0.0 -0.03"/>
      <geometry>
        <box size="0.018 0.018 0.06"/>
      </geometry>
    </collision>
  </link>
  <gazebo reference="finger2_right">
    <material>Gazebo/Black</material>
    <turnGravityOff>false</turnGravityOff>
  </gazebo>
  <gazebo reference="finger2_right">
    <mu1 value="100.0"/>
    <mu2 value="100.0"/>
  </gazebo>
  <link name="finger2_phalanx_right">
    <inertial>
      <origin rpy="0 0 0" xyz="0.0 0.0 0"/>
      <mass value="0.01"/>
      <inertia ixx="0.001" ixy="0" ixz="0" iyy="0.001" iyz="0" izz="0.001"/>
    </inertial>
    <visual>
      <origin rpy="0 0 0" xyz="0.0 0.0 0"/>
      <geometry>
        <cylinder length="0.019" radius="0.009"/>
      </geometry>
      <material name="White">
     </material>
    </visual>
    <collision>
      <origin rpy="0 0 0" xyz="0.0 0.0 0"/>
      <geometry>
        <cylinder length="0.019" radius="0.009"/>
      </geometry>
    </collision>
  </link>
  <gazebo reference="finger2_phalanx_right">
    <material>Gazebo/White</material>
    <turnGravityOff>false</turnGravityOff>
  </gazebo>
  <link name="finger2_tip_right">
    <inertial>
      <origin rpy="0 0 0" xyz="0.0 0.0 -0.03"/>
      <mass value="0.05"/>
      <inertia ixx="0.00037" ixy="0" ixz="0" iyy="0.00052" iyz="0" izz="0.00052"/>
    </inertial>
    <visual>
      <origin rpy="0 0 0" xyz="0.0 0.0 -0.03"/>
      <geometry>
        <box size="0.018 0.018 0.06"/>
      </geometry>
      <material name="Black">
     </material>
    </visual>
    <collision>
      <origin rpy="0 0 0" xyz="0.0 0.0 -0.03"/>
      <geometry>
        <box size="0.018 0.018 0.06"/>
      </geometry>
    </collision>
  </link>
  <gazebo reference="finger2_tip_right">
    <material>Gazebo/Black</material>
    <turnGravityOff>false</turnGravityOff>
  </gazebo>
  <gazebo reference="finger2_tip_right">
    <mu1 value="100.0"/>
    <mu2 value="100.0"/>
  </gazebo>
  <link name="finger2_tip_phalanx_right">
    <inertial>
      <origin rpy="0 0 0" xyz="0.0 0.0 0"/>
      <mass value="0.01"/>
      <inertia ixx="0.001" ixy="0" ixz="0" iyy="0.001" iyz="0" izz="0.001"/>
    </inertial>
    <visual>
      <origin rpy="0 0 0" xyz="0.0 0.0 0"/>
      <geometry>
        <cylinder length="0.017" radius="0.009"/>
      </geometry>
      <material name="White">
     </material>
    </visual>
    <collision>
      <origin rpy="0 0 0" xyz="0.0 0.0 0"/>
      <geometry>
        <cylinder length="0.017" radius="0.009"/>
      </geometry>
    </collision>
  </link>
  <gazebo reference="finger2_tip_phalanx_right">
    <material>Gazebo/White</material>
    <turnGravityOff>false</turnGravityOff>
  </gazebo>
  <link name="grippoint_right">
    <inertial>
      <origin rpy="0 0 0" xyz="-0.1 0.0 0.0"/>
      <mass value="0.01"/>
      <inertia ixx="0.0001" ixy="0" ixz="0" iyy="0.0001" iyz="0" izz="0.0001"/>
    </inertial>
    <visual>
      <origin rpy="0 0 0 " xyz="-0.1 0.0 0.0"/>
      <geometry>
        <box size="0.0 0.0 0.0"/>
      </geometry>
      <material name="Blue">
     </material>
    </visual>
    <collision>
      <origin rpy="0 0 0 " xyz="-0.1 0.0 0.0"/>
      <geometry>
        <box size="0.0 0.0 0.0"/>
      </geometry>
    </collision>
  </link>
  <gazebo reference="grippoint_right">
    <material>Gazebo/Blue</material>
    <turnGravityOff>false</turnGravityOff>
  </gazebo>
  <joint name="shoulder_mount_joint_right" type="fixed">
    <parent link="torso"/>
    <child link="shoulder_mount_right"/>
    <origin rpy="0 0 0.0" xyz="0.05 0.22 0.0"/>
  </joint>
  <joint name="shoulder_yaw_joint_right" type="revolute">
    <parent link="shoulder_mount_right"/>
    <child link="shoulder_link1_right"/>
    <origin rpy="-1.5708 -1.5708 0" xyz="0 0 0"/>
    <axis xyz="+1 0 0"/>
    <dynamics damping="6.0" friction="4.87"/>
    <limit effort="13.4" lower="-1.57" upper="0.0" velocity="1.0"/>
  </joint>
  <joint name="shoulder_pitch_joint_right" type="revolute">
    <parent link="shoulder_link1_right"/>
    <child link="shoulder_link2_right"/>
    <origin rpy="-1.5708  0 0" xyz="0.0 0.0 0.0"/>
    <axis xyz="0 -1 0"/>
    <dynamics damping="6.0" friction="6.06"/>
    <limit effort="13.4" lower="-1.57" upper="1.57" velocity="1.0"/>
  </joint>
  <joint name="shoulder_roll_joint_right" type="revolute">
    <parent link="shoulder_link2_right"/>
    <child link="upper_arm_right"/>
    <origin rpy="1.5708 0 0.0" xyz="0.0 0.0 0.0"/>
    <axis xyz="0 1.0 0"/>
    <dynamics damping="6.0" friction="2.16"/>
    <limit effort="9.8" lower="-1.57" upper="1.57" velocity="1.0"/>
  </joint>
  <joint name="elbow_pitch_joint_right" type="revolute">
    <parent link="upper_arm_right"/>
    <child link="elbow_link4_right"/>
    <origin rpy="-1.5708 0 0" xyz="0.01 -0.32 0.0"/>
    <axis xyz="0 -1 0"/>
    <dynamics damping="2.5" friction="1.18"/>
    <limit effort="4.5" lower="0.0" upper="2.23" velocity="1.0"/>
  </joint>
  <joint name="elbow_roll_joint_right" type="revolute">
    <parent link="elbow_link4_right"/>
    <child link="fore_arm_right"/>
    <origin rpy="1.5708 0 0" xyz="0.0 0.0 0.0"/>
    <axis xyz="0 1.0 0"/>
    <dynamics damping="2.5" friction="1.35"/>
    <limit effort="4.5" lower="-1.83" upper="1.83" velocity="1.0"/>
  </joint>
  <joint name="wrist_pitch_joint_right" type="revolute">
    <parent link="fore_arm_right"/>
    <child link="wrist_link6_right"/>
    <origin rpy="-1.5708 0 -1.5708" xyz="0.01 -0.28 0.0"/>
    <axis xyz="0 -1 0"/>
    <dynamics damping="0.5" friction="0.63"/>
    <limit effort="1" lower="-0.95" upper="0.95" velocity="1.0"/>
  </joint>
  <joint name="wrist_yaw_joint_right" type="revolute">
    <parent link="wrist_link6_right"/>
    <child link="hand_right"/>
    <origin rpy="0 0 0" xyz="0.0 0.0 0.0"/>
    <axis xyz="0 0 1.01"/>
    <dynamics damping="0.5" friction="0.68"/>
    <limit effort="1" lower="-0.61" upper="0.61" velocity="1.0"/>
  </joint>
  <joint name="finger1_joint_right" type="revolute">
    <parent link="hand_right"/>
    <child link="finger1_right"/>
    <origin rpy="0 -1.57 0" xyz=" 0.075 0.02 0"/>
    <axis xyz="1 0 0"/>
    <dynamics damping="0.5" friction="1.0"/>
    <limit effort="3" lower="-1.57" upper="1.57" velocity="1.0"/>
  </joint>
  <joint name="finger1_phalanx_joint_right" type="fixed">
    <parent link="finger1_right"/>
    <child link="finger1_phalanx_right"/>
    <origin rpy="0 1.57 0" xyz="0 0 -0.06"/>
  </joint>
  <joint name="finger1_tip_joint_right" type="revolute">
    <parent link="finger1_right"/>
    <child link="finger1_tip_right"/>
    <origin rpy="0 0 0" xyz=" 0 0.0 -0.06"/>
    <axis xyz="1 0 0"/>
    <dynamics damping="0.5" friction="1.0"/>
    <limit effort="3" lower="-1.57" upper="1.57" velocity="1.0"/>
  </joint>
  <joint name="finger1_tip_phalanx_joint_right" type="fixed">
    <parent link="finger1_tip_right"/>
    <child link="finger1_tip_phalanx_right"/>
    <origin rpy="0 1.57 0" xyz="0 0 -0.06"/>
  </joint>
  <joint name="finger2_joint_right" type="revolute">
    <parent link="hand_right"/>
    <child link="finger2_right"/>
    <origin rpy="0 -1.57 0" xyz="0.075 -0.02 0"/>
    <axis xyz="-1 0 0"/>
    <dynamics damping="0.5" friction="1.0"/>
    <limit effort="3" lower="-1.57" upper="1.57" velocity="1.0"/>
  </joint>
  <joint name="finger2_phalanx_joint_right" type="fixed">
    <parent link="finger2_right"/>
    <child link="finger2_phalanx_right"/>
    <origin rpy="0 1.57 0" xyz="0 0 -0.06"/>
  </joint>
  <joint name="finger2_tip_joint_right" type="revolute">
    <parent link="finger2_right"/>
    <child link="finger2_tip_right"/>
    <origin rpy="0 0 0" xyz="0 0 -0.06"/>
    <axis xyz="-1 0 0"/>
    <dynamics damping="0.5" friction="1.0"/>
    <limit effort="3" lower="-1.57" upper="1.57" velocity="1.0"/>
  </joint>
  <joint name="finger2_tip_phalanx_joint_right" type="fixed">
    <parent link="finger2_tip_right"/>
    <child link="finger2_tip_phalanx_right"/>
    <origin rpy="0 1.57 0" xyz="0 0 -0.06"/>
  </joint>
  <joint name="grippoint_joint_right" type="fixed">
    <parent link="hand_right"/>
    <child link="grippoint_right"/>
    <origin rpy="0 0 0" xyz="0.14 0.0 0.0"/>
  </joint>
  <link name="shoulder_mount_left">
    <inertial>
      <origin rpy="0 0 0" xyz="0.0 0.0 0.0"/>
      <mass value="0.1"/>
      <inertia ixx="0.01" ixy="0" ixz="0" iyy="0.01" iyz="0" izz="0.01"/>
    </inertial>
    <visual>
      <origin rpy="0 0 0 " xyz="0.0 0.0 0.0"/>
      <geometry>
        <cylinder length="0.11" radius="0.05"/>
      </geometry>
      <material name="Black">
     </material>
    </visual>
    <collision>
      <origin rpy="0 0 0 " xyz="0.0 0.0 0.0"/>
      <geometry>
        <cylinder length="0.11" radius="0.05"/>
      </geometry>
    </collision>
  </link>
  <gazebo reference="shoulder_mount_left">
    <material>Gazebo/Black</material>
    <turnGravityOff>false</turnGravityOff>
  </gazebo>
  <link name="shoulder_link1_left">
    <inertial>
      <origin rpy="0 0 0" xyz="0.0 0.0 0.0"/>
      <mass value="0.1"/>
      <inertia ixx="0.01" ixy="0" ixz="0" iyy="0.01" iyz="0" izz="0.01"/>
    </inertial>
    <visual>
      <origin rpy="0 0 0 " xyz="0.0 0.0 -0.0525"/>
      <geometry>
        <cylinder length="0.015" radius="0.045"/>
      </geometry>
      <material name="Black">
     </material>
    </visual>
    <collision>
      <origin rpy="0 0 0 " xyz="0.0 0.0 -0.0525"/>
      <geometry>
        <cylinder length="0.015" radius="0.045"/>
      </geometry>
    </collision>
  </link>
  <gazebo reference="shoulder_link1_left">
    <material>Gazebo/Black</material>
    <turnGravityOff>false</turnGravityOff>
  </gazebo>
  <link name="shoulder_link2_left">
    <inertial>
      <origin rpy="0 0 0" xyz="0.0 0.0 0.0"/>
      <mass value="0.1"/>
      <inertia ixx="0.001" ixy="0" ixz="0" iyy="0.001" iyz="0" izz="0.001"/>
    </inertial>
    <visual>
      <origin rpy="0 0 0" xyz="0.0 0.06 -0.05"/>
      <geometry>
        <box size="0.035 0.01 0.1"/>
      </geometry>
      <material name="Black">
     </material>
    </visual>
    <collision>
      <origin rpy="0 0 0" xyz="0.0 0.06 -0.05"/>
      <geometry>
        <box size="0.035 0.01 0.1"/>
      </geometry>
    </collision>
  </link>
  <gazebo reference="shoulder_link2_left">
    <material>Gazebo/Black</material>
    <turnGravityOff>false</turnGravityOff>
  </gazebo>
  <link name="upper_arm_left">
    <inertial>
      <origin rpy="0 0 0" xyz="0.0 -0.2 0.0"/>
      <mass value="2.9"/>
      <inertia ixx="0.027" ixy="0" ixz="0" iyy="0.027" iyz="0" izz="0.004"/>
    </inertial>
    <visual>
      <origin rpy="0 0 3.1415" xyz="-0.00959 -0.19131 -0.00001"/>
      <geometry>
        <mesh filename="package://amigo_robot_model_groovy/Media/meshes/upperarmtextured.dae" scale="0.0004 0.0004 0.0004"/>
      </geometry>
      <material name="white"/>
    </visual>
    <collision>
      <origin rpy="0 0 3.1415" xyz="-0.00959 -0.19131 -0.00001"/>
      <geometry>
        <mesh filename="package://amigo_robot_model_groovy/Media/meshes/upperarmtextured.dae" scale="0.0004 0.0004 0.0004"/>
      </geometry>
    </collision>
  </link>
  <gazebo reference="upper_arm_left">
    <material>amigo_robot_model_groovy/white</material>
    <turnGravityOff>false</turnGravityOff>
  </gazebo>
  <link name="elbow_link4_left">
    <inertial>
      <origin rpy="0 0 0" xyz="0.0 0.0 0.0"/>
      <mass value="0.1"/>
      <inertia ixx="0.001" ixy="0" ixz="0" iyy="0.001" iyz="0" izz="0.001"/>
    </inertial>
    <visual>
      <origin rpy="0 0 0" xyz="0.0 0.0 0.0"/>
      <geometry>
        <cylinder length="0.0" radius="0.0"/>
      </geometry>
      <material name="Grey">
     </material>
    </visual>
    <collision>
      <origin rpy="0 0 0" xyz="0.0 0.0 0.0"/>
      <geometry>
        <cylinder length="0.0" radius="0.0"/>
      </geometry>
    </collision>
  </link>
  <gazebo reference="elbow_link4_left">
    <material>Gazebo/Grey</material>
    <turnGravityOff>false</turnGravityOff>
  </gazebo>
  <link name="fore_arm_left">
    <inertial>
      <origin rpy="0.0 0 0" xyz="0.0 -0.14 0.0"/>
      <mass value="0.1"/>
      <inertia ixx="0.0054" ixy="0" ixz="0" iyy="0.0054" iyz="0" izz="0.0004"/>
    </inertial>
    <visual>
      <origin rpy="0 -1.5708 0" xyz="0.00425 -0.14868 0.00547"/>
      <geometry>
        <mesh filename="package://amigo_robot_model_groovy/Media/meshes/forearmtextured.dae" scale="0.0004 0.0004 0.0004"/>
      </geometry>
      <material name="white"/>
    </visual>
    <collision>
      <origin rpy="0 -1.5708 0" xyz="0.00425 -0.14868 0.00547"/>
      <geometry>
        <mesh filename="package://amigo_robot_model_groovy/Media/meshes/forearmtextured.dae" scale="0.0004 0.0004 0.0004"/>
      </geometry>
    </collision>
  </link>
  <gazebo reference="fore_arm_left">
    <material>amigo_robot_model_groovy/white</material>
    <turnGravityOff>false</turnGravityOff>
  </gazebo>
  <link name="wrist_link6_left">
    <inertial>
      <origin rpy="0 0 0" xyz="0.0 0.0 0.0"/>
      <mass value="0.01"/>
      <inertia ixx="0.001" ixy="0" ixz="0" iyy="0.001" iyz="0" izz="0.001"/>
    </inertial>
    <visual>
      <origin rpy="1.5708 0 0" xyz="0.0 0.0 0.0"/>
      <geometry>
        <cylinder length="0.0" radius="0.0"/>
      </geometry>
      <material name="Black">
     </material>
    </visual>
    <collision>
      <origin rpy="1.5708 0 0" xyz="0.0 0.0 0.0"/>
      <geometry>
        <cylinder length="0.0" radius="0.0"/>
      </geometry>
    </collision>
  </link>
  <gazebo reference="wrist_link6_left">
    <material>Gazebo/Black</material>
    <turnGravityOff>false</turnGravityOff>
  </gazebo>
  <link name="hand_left">
    <inertial>
      <origin rpy="0 0 0" xyz="0.048 0.0 0.0"/>
      <mass value="0.2"/>
      <inertia ixx="0.01" ixy="0" ixz="0" iyy="0.01" iyz="0" izz="0.01"/>
    </inertial>
    <visual>
      <origin rpy="0 0 0" xyz="0.048 0.0 0.0"/>
      <geometry>
        <box size="0.080 0.085 0.038"/>
      </geometry>
      <material name="Grey">
     </material>
    </visual>
    <collision>
      <origin rpy="0 0 0" xyz="0.048 0.0 0.0"/>
      <geometry>
        <box size="0.080 0.085 0.038"/>
      </geometry>
    </collision>
  </link>
  <gazebo reference="hand_left">
    <material>Gazebo/Grey</material>
    <turnGravityOff>false</turnGravityOff>
  </gazebo>
  <link name="finger1_left">
    <inertial>
      <origin rpy="0 0 0" xyz="0.0 0.0 -0.03"/>
      <mass value="0.05"/>
      <inertia ixx="0.01" ixy="0" ixz="0" iyy="0.01" iyz="0" izz="0.01"/>
    </inertial>
    <visual>
      <origin rpy="0 0 0" xyz="0.0 0.0 -0.03"/>
      <geometry>
        <box size="0.018 0.018 0.06"/>
      </geometry>
      <material name="Black">
     </material>
    </visual>
    <collision>
      <origin rpy="0 0 0" xyz="0.0 0.0 -0.03"/>
      <geometry>
        <box size="0.018 0.018 0.06"/>
      </geometry>
    </collision>
  </link>
  <gazebo reference="finger1_left">
    <material>Gazebo/Black</material>
    <turnGravityOff>false</turnGravityOff>
  </gazebo>
  <gazebo reference="finger1_left">
    <mu1 value="100.0"/>
    <mu2 value="100.0"/>
  </gazebo>
  <link name="finger1_phalanx_left">
    <inertial>
      <origin rpy="0 0 0" xyz="0.0 0.0 0"/>
      <mass value="0.01"/>
      <inertia ixx="0.001" ixy="0" ixz="0" iyy="0.001" iyz="0" izz="0.001"/>
    </inertial>
    <visual>
      <origin rpy="0 0 0" xyz="0.0 0.0 0"/>
      <geometry>
        <cylinder length="0.019" radius="0.009"/>
      </geometry>
      <material name="White">
     </material>
    </visual>
    <collision>
      <origin rpy="0 0 0" xyz="0.0 0.0 0"/>
      <geometry>
        <cylinder length="0.019" radius="0.009"/>
      </geometry>
    </collision>
  </link>
  <gazebo reference="finger1_phalanx_left">
    <material>Gazebo/White</material>
    <turnGravityOff>false</turnGravityOff>
  </gazebo>
  <link name="finger1_tip_left">
    <inertial>
      <origin rpy="0 0 0" xyz="0.0 0.0 -0.03"/>
      <mass value="0.05"/>
      <inertia ixx="0.00037" ixy="0" ixz="0" iyy="0.00052" iyz="0" izz="0.00052"/>
    </inertial>
    <visual>
      <origin rpy="0 0 0" xyz="0.0 0.0 -0.03"/>
      <geometry>
        <box size="0.018 0.018 0.06"/>
      </geometry>
      <material name="Black">
     </material>
    </visual>
    <collision>
      <origin rpy="0 0 0" xyz="0.0 0.0 -0.03"/>
      <geometry>
        <box size="0.018 0.018 0.06"/>
      </geometry>
    </collision>
  </link>
  <gazebo reference="finger1_tip_left">
    <material>Gazebo/Black</material>
    <turnGravityOff>false</turnGravityOff>
  </gazebo>
  <gazebo reference="finger1_tip_left">
    <mu1 value="100.0"/>
    <mu2 value="100.0"/>
  </gazebo>
  <link name="finger1_tip_phalanx_left">
    <inertial>
      <origin rpy="0 0 0" xyz="0.0 0.0 0"/>
      <mass value="0.01"/>
      <inertia ixx="0.001" ixy="0" ixz="0" iyy="0.001" iyz="0" izz="0.001"/>
    </inertial>
    <visual>
      <origin rpy="0 0 0" xyz="0.0 0.0 0"/>
      <geometry>
        <cylinder length="0.017" radius="0.009"/>
      </geometry>
      <material name="White">
     </material>
    </visual>
    <collision>
      <origin rpy="0 0 0" xyz="0.0 0.0 0"/>
      <geometry>
        <cylinder length="0.017" radius="0.009"/>
      </geometry>
    </collision>
  </link>
  <gazebo reference="finger1_tip_phalanx_left">
    <material>Gazebo/White</material>
    <turnGravityOff>false</turnGravityOff>
  </gazebo>
  <link name="finger2_left">
    <inertial>
      <origin rpy="0 0 0" xyz="0.0 0.0 -0.03"/>
      <mass value="0.05"/>
      <inertia ixx="0.01" ixy="0" ixz="0" iyy="0.01" iyz="0" izz="0.01"/>
    </inertial>
    <visual>
      <origin rpy="0 0 0" xyz="0.0 0.0 -0.03"/>
      <geometry>
        <box size="0.018 0.018 0.06"/>
      </geometry>
      <material name="Black">
     </material>
    </visual>
    <collision>
      <origin rpy="0 0 0" xyz="0.0 0.0 -0.03"/>
      <geometry>
        <box size="0.018 0.018 0.06"/>
      </geometry>
    </collision>
  </link>
  <gazebo reference="finger2_left">
    <material>Gazebo/Black</material>
    <turnGravityOff>false</turnGravityOff>
  </gazebo>
  <gazebo reference="finger2_left">
    <mu1 value="100.0"/>
    <mu2 value="100.0"/>
  </gazebo>
  <link name="finger2_phalanx_left">
    <inertial>
      <origin rpy="0 0 0" xyz="0.0 0.0 0"/>
      <mass value="0.01"/>
      <inertia ixx="0.001" ixy="0" ixz="0" iyy="0.001" iyz="0" izz="0.001"/>
    </inertial>
    <visual>
      <origin rpy="0 0 0" xyz="0.0 0.0 0"/>
      <geometry>
        <cylinder length="0.019" radius="0.009"/>
      </geometry>
      <material name="White">
     </material>
    </visual>
    <collision>
      <origin rpy="0 0 0" xyz="0.0 0.0 0"/>
      <geometry>
        <cylinder length="0.019" radius="0.009"/>
      </geometry>
    </collision>
  </link>
  <gazebo reference="finger2_phalanx_left">
    <material>Gazebo/White</material>
    <turnGravityOff>false</turnGravityOff>
  </gazebo>
  <link name="finger2_tip_left">
    <inertial>
      <origin rpy="0 0 0" xyz="0.0 0.0 -0.03"/>
      <mass value="0.05"/>
      <inertia ixx="0.00037" ixy="0" ixz="0" iyy="0.00052" iyz="0" izz="0.00052"/>
    </inertial>
    <visual>
      <origin rpy="0 0 0" xyz="0.0 0.0 -0.03"/>
      <geometry>
        <box size="0.018 0.018 0.06"/>
      </geometry>
      <material name="Black">
     </material>
    </visual>
    <collision>
      <origin rpy="0 0 0" xyz="0.0 0.0 -0.03"/>
      <geometry>
        <box size="0.018 0.018 0.06"/>
      </geometry>
    </collision>
  </link>
  <gazebo reference="finger2_tip_left">
    <material>Gazebo/Black</material>
    <turnGravityOff>false</turnGravityOff>
  </gazebo>
  <gazebo reference="finger2_tip_left">
    <mu1 value="100.0"/>
    <mu2 value="100.0"/>
  </gazebo>
  <link name="finger2_tip_phalanx_left">
    <inertial>
      <origin rpy="0 0 0" xyz="0.0 0.0 0"/>
      <mass value="0.01"/>
      <inertia ixx="0.001" ixy="0" ixz="0" iyy="0.001" iyz="0" izz="0.001"/>
    </inertial>
    <visual>
      <origin rpy="0 0 0" xyz="0.0 0.0 0"/>
      <geometry>
        <cylinder length="0.017" radius="0.009"/>
      </geometry>
      <material name="White">
     </material>
    </visual>
    <collision>
      <origin rpy="0 0 0" xyz="0.0 0.0 0"/>
      <geometry>
        <cylinder length="0.017" radius="0.009"/>
      </geometry>
    </collision>
  </link>
  <gazebo reference="finger2_tip_phalanx_left">
    <material>Gazebo/White</material>
    <turnGravityOff>false</turnGravityOff>
  </gazebo>
  <link name="grippoint_left">
    <inertial>
      <origin rpy="0 0 0" xyz="-0.1 0.0 0.0"/>
      <mass value="0.01"/>
      <inertia ixx="0.0001" ixy="0" ixz="0" iyy="0.0001" iyz="0" izz="0.0001"/>
    </inertial>
    <visual>
      <origin rpy="0 0 0 " xyz="-0.1 0.0 0.0"/>
      <geometry>
        <box size="0.0 0.0 0.0"/>
      </geometry>
      <material name="Blue">
     </material>
    </visual>
    <collision>
      <origin rpy="0 0 0 " xyz="-0.1 0.0 0.0"/>
      <geometry>
        <box size="0.0 0.0 0.0"/>
      </geometry>
    </collision>
  </link>
  <gazebo reference="grippoint_left">
    <material>Gazebo/Blue</material>
    <turnGravityOff>false</turnGravityOff>
  </gazebo>
  <joint name="shoulder_mount_joint_left" type="fixed">
    <parent link="torso"/>
    <child link="shoulder_mount_left"/>
    <origin rpy="0 0 0.0" xyz="0.05 -0.22 0.0"/>
  </joint>
  <joint name="shoulder_yaw_joint_left" type="revolute">
    <parent link="shoulder_mount_left"/>
    <child link="shoulder_link1_left"/>
    <origin rpy="-1.5708 -1.5708 0" xyz="0 0 0"/>
    <axis xyz="-1 0 0"/>
    <dynamics damping="6.0" friction="4.87"/>
    <limit effort="13.4" lower="-1.57" upper="0.0" velocity="1.0"/>
  </joint>
  <joint name="shoulder_pitch_joint_left" type="revolute">
    <parent link="shoulder_link1_left"/>
    <child link="shoulder_link2_left"/>
    <origin rpy="-1.5708  0 0" xyz="0.0 0.0 0.0"/>
    <axis xyz="0 -1 0"/>
    <dynamics damping="6.0" friction="6.06"/>
    <limit effort="13.4" lower="-1.57" upper="1.57" velocity="1.0"/>
  </joint>
  <joint name="shoulder_roll_joint_left" type="revolute">
    <parent link="shoulder_link2_left"/>
    <child link="upper_arm_left"/>
    <origin rpy="1.5708 0 0.0" xyz="0.0 0.0 0.0"/>
    <axis xyz="0 -1.0 0"/>
    <dynamics damping="6.0" friction="2.16"/>
    <limit effort="9.8" lower="-1.57" upper="1.57" velocity="1.0"/>
  </joint>
  <joint name="elbow_pitch_joint_left" type="revolute">
    <parent link="upper_arm_left"/>
    <child link="elbow_link4_left"/>
    <origin rpy="-1.5708 0 0" xyz="0.01 -0.32 0.0"/>
    <axis xyz="0 -1 0"/>
    <dynamics damping="2.5" friction="1.18"/>
    <limit effort="4.5" lower="0.0" upper="2.23" velocity="1.0"/>
  </joint>
  <joint name="elbow_roll_joint_left" type="revolute">
    <parent link="elbow_link4_left"/>
    <child link="fore_arm_left"/>
    <origin rpy="1.5708 0 0" xyz="0.0 0.0 0.0"/>
    <axis xyz="0 -1.0 0"/>
    <dynamics damping="2.5" friction="1.35"/>
    <limit effort="4.5" lower="-1.83" upper="1.83" velocity="1.0"/>
  </joint>
  <joint name="wrist_pitch_joint_left" type="revolute">
    <parent link="fore_arm_left"/>
    <child link="wrist_link6_left"/>
    <origin rpy="-1.5708 0 -1.5708" xyz="0.01 -0.28 0.0"/>
    <axis xyz="0 -1 0"/>
    <dynamics damping="0.5" friction="0.63"/>
    <limit effort="1" lower="-0.95" upper="0.95" velocity="1.0"/>
  </joint>
  <joint name="wrist_yaw_joint_left" type="revolute">
    <parent link="wrist_link6_left"/>
    <child link="hand_left"/>
    <origin rpy="0 0 0" xyz="0.0 0.0 0.0"/>
    <axis xyz="0 0 -1.01"/>
    <dynamics damping="0.5" friction="0.68"/>
    <limit effort="1" lower="-0.61" upper="0.61" velocity="1.0"/>
  </joint>
  <joint name="finger1_joint_left" type="revolute">
    <parent link="hand_left"/>
    <child link="finger1_left"/>
    <origin rpy="0 -1.57 0" xyz=" 0.075 0.02 0"/>
    <axis xyz="1 0 0"/>
    <dynamics damping="0.5" friction="1.0"/>
    <limit effort="3" lower="-1.57" upper="1.57" velocity="1.0"/>
  </joint>
  <joint name="finger1_phalanx_joint_left" type="fixed">
    <parent link="finger1_left"/>
    <child link="finger1_phalanx_left"/>
    <origin rpy="0 1.57 0" xyz="0 0 -0.06"/>
  </joint>
  <joint name="finger1_tip_joint_left" type="revolute">
    <parent link="finger1_left"/>
    <child link="finger1_tip_left"/>
    <origin rpy="0 0 0" xyz=" 0 0.0 -0.06"/>
    <axis xyz="1 0 0"/>
    <dynamics damping="0.5" friction="1.0"/>
    <limit effort="3" lower="-1.57" upper="1.57" velocity="1.0"/>
  </joint>
  <joint name="finger1_tip_phalanx_joint_left" type="fixed">
    <parent link="finger1_tip_left"/>
    <child link="finger1_tip_phalanx_left"/>
    <origin rpy="0 1.57 0" xyz="0 0 -0.06"/>
  </joint>
  <joint name="finger2_joint_left" type="revolute">
    <parent link="hand_left"/>
    <child link="finger2_left"/>
    <origin rpy="0 -1.57 0" xyz="0.075 -0.02 0"/>
    <axis xyz="-1 0 0"/>
    <dynamics damping="0.5" friction="1.0"/>
    <limit effort="3" lower="-1.57" upper="1.57" velocity="1.0"/>
  </joint>
  <joint name="finger2_phalanx_joint_left" type="fixed">
    <parent link="finger2_left"/>
    <child link="finger2_phalanx_left"/>
    <origin rpy="0 1.57 0" xyz="0 0 -0.06"/>
  </joint>
  <joint name="finger2_tip_joint_left" type="revolute">
    <parent link="finger2_left"/>
    <child link="finger2_tip_left"/>
    <origin rpy="0 0 0" xyz="0 0 -0.06"/>
    <axis xyz="-1 0 0"/>
    <dynamics damping="0.5" friction="1.0"/>
    <limit effort="3" lower="-1.57" upper="1.57" velocity="1.0"/>
  </joint>
  <joint name="finger2_tip_phalanx_joint_left" type="fixed">
    <parent link="finger2_tip_left"/>
    <child link="finger2_tip_phalanx_left"/>
    <origin rpy="0 1.57 0" xyz="0 0 -0.06"/>
  </joint>
  <joint name="grippoint_joint_left" type="fixed">
    <parent link="hand_left"/>
    <child link="grippoint_left"/>
    <origin rpy="0 0 0" xyz="0.14 0.0 0.0"/>
  </joint>
  <!--extra arm visuals-->
  <author>Kris van Tienhoven</author>
  <license>BSD</license>
  <review notes="" status="unreviewed"/>
  <link name="upper_arm_top_right">
    <inertial>
      <origin rpy="0 0 0" xyz="0.0 0.0 0.0"/>
      <mass value="0.01"/>
      <inertia ixx="0.027" ixy="0" ixz="0" iyy="0.027" iyz="0" izz="0.004"/>
    </inertial>
    <visual>
      <origin rpy="0 0 0" xyz="0.0 0.0 0.0"/>
      <geometry>
        <cylinder length="0.02" radius="0.0561"/>
      </geometry>
      <material name="Black">
     </material>
    </visual>
    <collision>
      <origin rpy="0 0 0" xyz="0.0 0.0 0.0"/>
      <geometry>
        <cylinder length="0.02" radius="0.0561"/>
      </geometry>
    </collision>
  </link>
  <gazebo reference="upper_arm_top_right">
    <material>Gazebo/Black</material>
    <turnGravityOff>false</turnGravityOff>
  </gazebo>
  <link name="elbow_extra_block_right">
    <inertial>
      <origin rpy="0 0 0" xyz="0.0 0.0 0.0"/>
      <mass value="0.01"/>
      <inertia ixx="0.001" ixy="0" ixz="0" iyy="0.001" iyz="0" izz="0.001"/>
    </inertial>
    <visual>
      <origin rpy="0 0 0" xyz="-0.036 0.0 0.02"/>
      <geometry>
        <box size="0.015 0.08 0.06"/>
      </geometry>
      <material name="Black">
     </material>
    </visual>
    <collision>
      <origin rpy="0 0 0" xyz="-0.036 0.0 0.02"/>
      <geometry>
        <box size="0.015 0.08 0.06"/>
      </geometry>
    </collision>
  </link>
  <gazebo reference="elbow_extra_block_right">
    <material>Gazebo/Black</material>
    <turnGravityOff>false</turnGravityOff>
  </gazebo>
  <link name="elbow_extra_block2_right">
    <inertial>
      <origin rpy="0 0 0" xyz="0.0 0.0 0.0"/>
      <mass value="0.01"/>
      <inertia ixx="0.001" ixy="0" ixz="0" iyy="0.001" iyz="0" izz="0.001"/>
    </inertial>
    <visual>
      <origin rpy="1.5708 0 0" xyz="0.0 0.0 0.0"/>
      <geometry>
        <cylinder length="0.08" radius="0.03"/>
      </geometry>
      <material name="Grey">
     </material>
    </visual>
    <collision>
      <origin rpy="1.5708 0 0" xyz="0.0 0.0 0.0"/>
      <geometry>
        <cylinder length="0.08" radius="0.03"/>
      </geometry>
    </collision>
  </link>
  <gazebo reference="elbow_extra_block2_right">
    <material>Gazebo/Grey</material>
    <turnGravityOff>false</turnGravityOff>
  </gazebo>
  <link name="fore_arm_top_right">
    <inertial>
      <origin rpy="0 0 0" xyz="0.0 0.0 0.0"/>
      <mass value="0.01"/>
      <inertia ixx="0.0054" ixy="0" ixz="0" iyy="0.0054" iyz="0" izz="0.0004"/>
    </inertial>
    <visual>
      <origin rpy="0 0 0" xyz="0.0 0.0 0.01"/>
      <geometry>
        <cylinder length="0.01" radius="0.037"/>
      </geometry>
      <material name="Black">
     </material>
    </visual>
    <collision>
      <origin rpy="0 0 0" xyz="0.0 0.0 0.01"/>
      <geometry>
        <cylinder length="0.01" radius="0.037"/>
      </geometry>
    </collision>
  </link>
  <gazebo reference="fore_arm_top_right">
    <material>Gazebo/Black</material>
    <turnGravityOff>false</turnGravityOff>
  </gazebo>
  <link name="wrist_visual_right">
    <inertial>
      <origin rpy="0 0 0" xyz="0.0 0.0 0.0"/>
      <mass value="0.01"/>
      <inertia ixx="0.001" ixy="0" ixz="0" iyy="0.001" iyz="0" izz="0.001"/>
    </inertial>
    <visual>
      <origin rpy="0 0 0" xyz="0.0 0.0 0.0"/>
      <geometry>
        <cylinder length="0.06" radius="0.018"/>
      </geometry>
      <material name="Grey">
     </material>
    </visual>
    <collision>
      <origin rpy="0 0 0" xyz="0.0 0.0 0.0"/>
      <geometry>
        <cylinder length="0.06" radius="0.018"/>
      </geometry>
    </collision>
  </link>
  <gazebo reference="wrist_visual_right">
    <material>Gazebo/Grey</material>
    <turnGravityOff>false</turnGravityOff>
  </gazebo>
  <link name="wrist_to_hand_block_right">
    <inertial>
      <origin rpy="0 0 0" xyz="0.0 0.0 0.0"/>
      <mass value="0.01"/>
      <inertia ixx="0.001" ixy="0" ixz="0" iyy="0.001" iyz="0" izz="0.001"/>
    </inertial>
    <visual>
      <origin rpy="0 0 0" xyz="0.0 0.0 0.0"/>
      <geometry>
        <box size="0.03 0.02 0.038"/>
      </geometry>
      <material name="Grey">
     </material>
    </visual>
    <collision>
      <origin rpy="0 0 0" xyz="0.0 0.0 0.0"/>
      <geometry>
        <box size="0.03 0.02 0.038"/>
      </geometry>
    </collision>
  </link>
  <gazebo reference="wrist_to_hand_block_right">
    <material>Gazebo/Grey</material>
    <turnGravityOff>false</turnGravityOff>
  </gazebo>
  <joint name="upper_arm_top_joint_right" type="fixed">
    <parent link="upper_arm_right"/>
    <child link="upper_arm_top_right"/>
    <origin rpy="1.5708 0 0.0" xyz="-0.01 -0.1 0.0"/>
  </joint>
  <joint name="elbow_extra_block_joint_right" type="fixed">
    <parent link="upper_arm_right"/>
    <child link="elbow_extra_block_right"/>
    <origin rpy="-1.5708 0 0" xyz="0.0 -0.31 0.0"/>
  </joint>
  <joint name="elbow_extra_block2_joint_right" type="fixed">
    <parent link="upper_arm_right"/>
    <child link="elbow_extra_block2_right"/>
    <origin rpy="-1.5708 0 0" xyz="0.0 -0.31 0.0"/>
  </joint>
  <joint name="fore_arm_top_joint_right" type="fixed">
    <parent link="fore_arm_right"/>
    <child link="fore_arm_top_right"/>
    <origin rpy="1.5708 0 0" xyz="0.002 -0.011 0.0"/>
  </joint>
  <joint name="wrist_visual_joint_right" type="fixed">
    <parent link="wrist_link6_right"/>
    <child link="wrist_visual_right"/>
    <origin rpy="1.5708 0 0" xyz="-0.02 0.0 0.0"/>
  </joint>
  <joint name="wrist_to_hand_block_joint_right" type="fixed">
    <parent link="wrist_link6_right"/>
    <child link="wrist_to_hand_block_right"/>
    <origin rpy="0 0 0" xyz="0.0 0.0 0.0"/>
  </joint>
  <link name="upper_arm_top_left">
    <inertial>
      <origin rpy="0 0 0" xyz="0.0 0.0 0.0"/>
      <mass value="0.01"/>
      <inertia ixx="0.027" ixy="0" ixz="0" iyy="0.027" iyz="0" izz="0.004"/>
    </inertial>
    <visual>
      <origin rpy="0 0 0" xyz="0.0 0.0 0.0"/>
      <geometry>
        <cylinder length="0.02" radius="0.0561"/>
      </geometry>
      <material name="Black">
     </material>
    </visual>
    <collision>
      <origin rpy="0 0 0" xyz="0.0 0.0 0.0"/>
      <geometry>
        <cylinder length="0.02" radius="0.0561"/>
      </geometry>
    </collision>
  </link>
  <gazebo reference="upper_arm_top_left">
    <material>Gazebo/Black</material>
    <turnGravityOff>false</turnGravityOff>
  </gazebo>
  <link name="elbow_extra_block_left">
    <inertial>
      <origin rpy="0 0 0" xyz="0.0 0.0 0.0"/>
      <mass value="0.01"/>
      <inertia ixx="0.001" ixy="0" ixz="0" iyy="0.001" iyz="0" izz="0.001"/>
    </inertial>
    <visual>
      <origin rpy="0 0 0" xyz="-0.036 0.0 0.02"/>
      <geometry>
        <box size="0.015 0.08 0.06"/>
      </geometry>
      <material name="Black">
     </material>
    </visual>
    <collision>
      <origin rpy="0 0 0" xyz="-0.036 0.0 0.02"/>
      <geometry>
        <box size="0.015 0.08 0.06"/>
      </geometry>
    </collision>
  </link>
  <gazebo reference="elbow_extra_block_left">
    <material>Gazebo/Black</material>
    <turnGravityOff>false</turnGravityOff>
  </gazebo>
  <link name="elbow_extra_block2_left">
    <inertial>
      <origin rpy="0 0 0" xyz="0.0 0.0 0.0"/>
      <mass value="0.01"/>
      <inertia ixx="0.001" ixy="0" ixz="0" iyy="0.001" iyz="0" izz="0.001"/>
    </inertial>
    <visual>
      <origin rpy="1.5708 0 0" xyz="0.0 0.0 0.0"/>
      <geometry>
        <cylinder length="0.08" radius="0.03"/>
      </geometry>
      <material name="Grey">
     </material>
    </visual>
    <collision>
      <origin rpy="1.5708 0 0" xyz="0.0 0.0 0.0"/>
      <geometry>
        <cylinder length="0.08" radius="0.03"/>
      </geometry>
    </collision>
  </link>
  <gazebo reference="elbow_extra_block2_left">
    <material>Gazebo/Grey</material>
    <turnGravityOff>false</turnGravityOff>
  </gazebo>
  <link name="fore_arm_top_left">
    <inertial>
      <origin rpy="0 0 0" xyz="0.0 0.0 0.0"/>
      <mass value="0.01"/>
      <inertia ixx="0.0054" ixy="0" ixz="0" iyy="0.0054" iyz="0" izz="0.0004"/>
    </inertial>
    <visual>
      <origin rpy="0 0 0" xyz="0.0 0.0 0.01"/>
      <geometry>
        <cylinder length="0.01" radius="0.037"/>
      </geometry>
      <material name="Black">
     </material>
    </visual>
    <collision>
      <origin rpy="0 0 0" xyz="0.0 0.0 0.01"/>
      <geometry>
        <cylinder length="0.01" radius="0.037"/>
      </geometry>
    </collision>
  </link>
  <gazebo reference="fore_arm_top_left">
    <material>Gazebo/Black</material>
    <turnGravityOff>false</turnGravityOff>
  </gazebo>
  <link name="wrist_visual_left">
    <inertial>
      <origin rpy="0 0 0" xyz="0.0 0.0 0.0"/>
      <mass value="0.01"/>
      <inertia ixx="0.001" ixy="0" ixz="0" iyy="0.001" iyz="0" izz="0.001"/>
    </inertial>
    <visual>
      <origin rpy="0 0 0" xyz="0.0 0.0 0.0"/>
      <geometry>
        <cylinder length="0.06" radius="0.018"/>
      </geometry>
      <material name="Grey">
     </material>
    </visual>
    <collision>
      <origin rpy="0 0 0" xyz="0.0 0.0 0.0"/>
      <geometry>
        <cylinder length="0.06" radius="0.018"/>
      </geometry>
    </collision>
  </link>
  <gazebo reference="wrist_visual_left">
    <material>Gazebo/Grey</material>
    <turnGravityOff>false</turnGravityOff>
  </gazebo>
  <link name="wrist_to_hand_block_left">
    <inertial>
      <origin rpy="0 0 0" xyz="0.0 0.0 0.0"/>
      <mass value="0.01"/>
      <inertia ixx="0.001" ixy="0" ixz="0" iyy="0.001" iyz="0" izz="0.001"/>
    </inertial>
    <visual>
      <origin rpy="0 0 0" xyz="0.0 0.0 0.0"/>
      <geometry>
        <box size="0.03 0.02 0.038"/>
      </geometry>
      <material name="Grey">
     </material>
    </visual>
    <collision>
      <origin rpy="0 0 0" xyz="0.0 0.0 0.0"/>
      <geometry>
        <box size="0.03 0.02 0.038"/>
      </geometry>
    </collision>
  </link>
  <gazebo reference="wrist_to_hand_block_left">
    <material>Gazebo/Grey</material>
    <turnGravityOff>false</turnGravityOff>
  </gazebo>
  <joint name="upper_arm_top_joint_left" type="fixed">
    <parent link="upper_arm_left"/>
    <child link="upper_arm_top_left"/>
    <origin rpy="1.5708 0 0.0" xyz="-0.01 -0.1 0.0"/>
  </joint>
  <joint name="elbow_extra_block_joint_left" type="fixed">
    <parent link="upper_arm_left"/>
    <child link="elbow_extra_block_left"/>
    <origin rpy="-1.5708 0 0" xyz="0.0 -0.31 0.0"/>
  </joint>
  <joint name="elbow_extra_block2_joint_left" type="fixed">
    <parent link="upper_arm_left"/>
    <child link="elbow_extra_block2_left"/>
    <origin rpy="-1.5708 0 0" xyz="0.0 -0.31 0.0"/>
  </joint>
  <joint name="fore_arm_top_joint_left" type="fixed">
    <parent link="fore_arm_left"/>
    <child link="fore_arm_top_left"/>
    <origin rpy="1.5708 0 0" xyz="0.002 -0.011 0.0"/>
  </joint>
  <joint name="wrist_visual_joint_left" type="fixed">
    <parent link="wrist_link6_left"/>
    <child link="wrist_visual_left"/>
    <origin rpy="1.5708 0 0" xyz="-0.02 0.0 0.0"/>
  </joint>
  <joint name="wrist_to_hand_block_joint_left" type="fixed">
    <parent link="wrist_link6_left"/>
    <child link="wrist_to_hand_block_left"/>
    <origin rpy="0 0 0" xyz="0.0 0.0 0.0"/>
  </joint>
  <!--====BUILD STUFF THAT NEEDS TO RUN IN EITHER SIMULATION OR ON THE REAL ROBOT ====-->
  <gazebo>
    <controller:gazebo_ros_time name="gazebo_ros_time" plugin="libgazebo_ros_time.so">
      <alwaysOn>true</alwaysOn>
      <updateRate>1000.0</updateRate>
      <interface:audio name="dummy_gazebo_ros_time_iface_should_not_be_here"/>
    </controller:gazebo_ros_time>
    <controller:gazebo_ros_controller_manager name="gazebo_ros_controller_manager" plugin="libgazebo_ros_controller_manager.so">
      <alwaysOn>true</alwaysOn>
      <updateRate>1000.0</updateRate>
      <interface:audio name="gazebo_ros_controller_manager_dummy_iface"/>
    </controller:gazebo_ros_controller_manager>
    <controller:gazebo_ros_imu name="imu_controller" plugin="libgazebo_ros_imu.so">
      <alwaysOn>true</alwaysOn>
      <updateRate>1000.0</updateRate>
      <bodyName>base_link</bodyName>
      <topicName>body/pose_ground_truth</topicName>
      <xyzOffsets>0.0 0.0 0</xyzOffsets>
      <rpyOffsets>0 0 0</rpyOffsets>
      <interface:position name="imu_position_iface"/>
    </controller:gazebo_ros_imu>
    <controller:gazebo_ros_p3d name="base_controller" plugin="libgazebo_ros_p3d.so">
      <alwaysOn>true</alwaysOn>
      <updateRate>100.0</updateRate>
      <bodyName>base_link</bodyName>
      <topicName>base/pose_ground_truth</topicName>
      <gaussianNoise>0.01</gaussianNoise>
      <frameName>map</frameName>
      <xyzOffsets>25.7 25.7 0</xyzOffsets>
      <!-- initialize odometry for fake localization-->
      <rpyOffsets>0 0 0</rpyOffsets>
      <interface:position name="p3d_base_position"/>
    </controller:gazebo_ros_p3d>
  </gazebo>
  <gazebo reference="base_laser">
    <sensor:ray name="base_ray_sensor">
      <origin>0.0 0.0 0.0</origin>
      <rayCount>683</rayCount>
      <rangeCount>683</rangeCount>
      <laserCount>1</laserCount>
      <displayRays>false</displayRays>
      <minAngle>-120</minAngle>
      <maxAngle> 120</maxAngle>
      <minRange>0.05</minRange>
      <maxRange>10.0</maxRange>
      <resRange>0.01</resRange>
      <updateRate>100.0</updateRate>
      <controller:gazebo_ros_laser name="base_ros_ray_sensor_controller" plugin="libgazebo_ros_laser.so">
        <gaussianNoise>0.005</gaussianNoise>
        <alwaysOn>true</alwaysOn>
        <updateRate>15.0</updateRate>
        <topicName>base/laser</topicName>
        <frameName>/base_laser</frameName>
        <interface:laser name="base_ros_ray_sensor_iface"/>
      </controller:gazebo_ros_laser>
    </sensor:ray>
  </gazebo>
  <gazebo reference="top_laser">
    <sensor:ray name="top_ray_sensor">
      <origin>0.0 0.0 0.0</origin>
      <rayCount>683</rayCount>
      <rangeCount>683</rangeCount>
      <laserCount>1</laserCount>
      <displayRays>false</displayRays>
      <minAngle>-135</minAngle>
      <maxAngle> 135</maxAngle>
      <minRange>0.05</minRange>
      <maxRange>10.0</maxRange>
      <resRange>0.01</resRange>
      <updateRate>100.0</updateRate>
      <controller:gazebo_ros_laser name="top_ros_ray_sensor_controller" plugin="libgazebo_ros_laser.so">
        <gaussianNoise>0.005</gaussianNoise>
        <alwaysOn>true</alwaysOn>
        <updateRate>15.0</updateRate>
        <topicName>top_scan</topicName>
        <frameName>/top_laser</frameName>
        <interface:laser name="top_ros_ray_sensor_iface"/>
      </controller:gazebo_ros_laser>
    </sensor:ray>
  </gazebo>
  <gazebo reference="openni_camera">
    <sensor:camera name="openni_camera">
      <imageFormat>R8G8B8</imageFormat>
      <imageSize>640 480</imageSize>
      <hfov>60</hfov>
      <nearClip>0.05</nearClip>
      <farClip>3</farClip>
      <updateRate>20</updateRate>
      <baseline>0.1</baseline>
      <controller:gazebo_ros_openni_kinect name="kinect_camera_controller" plugin="libkinect_controller.so">
        <!-- THIS IS THE FORKED VERSION UNTIL NOW (OCT16 2012) THE VERSION IN GAZEBO_PLUGINS WAS NOT SHOWING DEPTH IMAGE PROPERLY!! -->
        <alwaysOn>true</alwaysOn>
        <updateRate>20</updateRate>
        <cameraName>camera</cameraName>
        <imageTopicName>/head/camera/rgb/image_color</imageTopicName>
        <cameraInfoTopicName>/head/camera/rgb/camera_info</cameraInfoTopicName>
        <depthImageTopicName>/head/camera/depth/image</depthImageTopicName>
        <depthImageCameraInfoTopicName>/head/camera/depth/camera_info</depthImageCameraInfoTopicName>
        <pointCloudTopicName>/head/camera/rgb/points</pointCloudTopicName>
        <frameName>/openni_depth_optical_frame</frameName>
        <!--<distortion_k1>0.00000001</distortion_k1>
        <distortion_k2>0.00000001</distortion_k2>
        <distortion_k3>0.00000001</distortion_k3>
        <distortion_t1>0.00000001</distortion_t1>
        <distortion_t2>0.00000001</distortion_t2>-->
      </controller:gazebo_ros_openni_kinect>
    </sensor:camera>
  </gazebo>
  <gazebo reference="base_kinect_openni_camera">
    <sensor:camera name="base_kinect_openni_camera">
      <imageFormat>R8G8B8</imageFormat>
      <imageSize>640 480</imageSize>
      <hfov>60</hfov>
      <nearClip>0.05</nearClip>
      <farClip>3</farClip>
      <updateRate>20</updateRate>
      <baseline>0.1</baseline>
      <controller:gazebo_ros_openni_kinect name="base_kinect_camera_controller" plugin="libkinect_controller.so">
        <!-- THIS IS THE FORKED VERSION UNTIL NOW (OCT16 2012) THE VERSION IN GAZEBO_PLUGINS WAS NOT SHOWING DEPTH IMAGE PROPERLY!! -->
        <alwaysOn>true</alwaysOn>
        <updateRate>20</updateRate>
        <cameraName>base/camera</cameraName>
        <imageTopicName>/base/head/camera/rgb/image_color</imageTopicName>
        <cameraInfoTopicName>/base/head/camera/rgb/camera_info</cameraInfoTopicName>
        <depthImageTopicName>/base/head/camera/depth/image</depthImageTopicName>
        <depthImageCameraInfoTopicName>/base/head/camera/depth/camera_info</depthImageCameraInfoTopicName>
        <pointCloudTopicName>/base/head/camera/rgb/points</pointCloudTopicName>
        <frameName>/base_kinect_openni_depth_optical_frame</frameName>
        <!--<distortion_k1>0.00000001</distortion_k1>
        <distortion_k2>0.00000001</distortion_k2>
        <distortion_k3>0.00000001</distortion_k3>
        <distortion_t1>0.00000001</distortion_t1>
        <distortion_t2>0.00000001</distortion_t2>-->
      </controller:gazebo_ros_openni_kinect>
    </sensor:camera>
  </gazebo>
  <author>Kris van Tienhoven</author>
  <license>BSD</license>
  <review notes="" status="unreviewed"/>
  <joint name="omni_sphere1_joint_left_front" type="continuous">
    <parent link="wheel_left_front"/>
    <child link="omni_sphere1_left_front"/>
    <axis xyz="0 1 0"/>
    <origin rpy="0.0 0 0" xyz="0.0 0.03 0.0"/>
    <dynamics damping="0.01" friction="0.0"/>
    <limit effort="0.5" velocity="0.05"/>
  </joint>
  <link name="omni_sphere1_left_front">
    <inertial>
      <origin rpy="0 0 0" xyz="0.0 0.0 0.0"/>
      <mass value="0.05"/>
      <inertia ixx="0.000018" ixy="0" ixz="0" iyy="0.000018" iyz="0" izz="0.000018"/>
    </inertial>
    <visual>
      <origin rpy="0 0 0" xyz="0.0 0.0 0.0"/>
      <geometry>
        <sphere radius="0.03"/>
      </geometry>
      <material name="Grey">
     </material>
    </visual>
    <collision>
      <origin rpy="0 0 0" xyz="0.0 0.0 0.0"/>
      <geometry>
        <sphere radius="0.03"/>
      </geometry>
    </collision>
  </link>
  <gazebo reference="omni_sphere1_left_front">
    <material>Gazebo/Grey</material>
    <turnGravityOff>false</turnGravityOff>
  </gazebo>
  <joint name="omni_sphere1_joint_right_front" type="continuous">
    <parent link="wheel_right_front"/>
    <child link="omni_sphere1_right_front"/>
    <axis xyz="0 1 0"/>
    <origin rpy="0.0 0 0" xyz="0.0 0.03 0.0"/>
    <dynamics damping="0.01" friction="0.0"/>
    <limit effort="0.5" velocity="0.05"/>
  </joint>
  <link name="omni_sphere1_right_front">
    <inertial>
      <origin rpy="0 0 0" xyz="0.0 0.0 0.0"/>
      <mass value="0.05"/>
      <inertia ixx="0.000018" ixy="0" ixz="0" iyy="0.000018" iyz="0" izz="0.000018"/>
    </inertial>
    <visual>
      <origin rpy="0 0 0" xyz="0.0 0.0 0.0"/>
      <geometry>
        <sphere radius="0.03"/>
      </geometry>
      <material name="Grey">
     </material>
    </visual>
    <collision>
      <origin rpy="0 0 0" xyz="0.0 0.0 0.0"/>
      <geometry>
        <sphere radius="0.03"/>
      </geometry>
    </collision>
  </link>
  <gazebo reference="omni_sphere1_right_front">
    <material>Gazebo/Grey</material>
    <turnGravityOff>false</turnGravityOff>
  </gazebo>
  <joint name="omni_sphere1_joint_left_rear" type="continuous">
    <parent link="wheel_left_rear"/>
    <child link="omni_sphere1_left_rear"/>
    <axis xyz="0 1 0"/>
    <origin rpy="0.0 0 0" xyz="0.0 0.03 0.0"/>
    <dynamics damping="0.01" friction="0.0"/>
    <limit effort="0.5" velocity="0.05"/>
  </joint>
  <link name="omni_sphere1_left_rear">
    <inertial>
      <origin rpy="0 0 0" xyz="0.0 0.0 0.0"/>
      <mass value="0.05"/>
      <inertia ixx="0.000018" ixy="0" ixz="0" iyy="0.000018" iyz="0" izz="0.000018"/>
    </inertial>
    <visual>
      <origin rpy="0 0 0" xyz="0.0 0.0 0.0"/>
      <geometry>
        <sphere radius="0.03"/>
      </geometry>
      <material name="Grey">
     </material>
    </visual>
    <collision>
      <origin rpy="0 0 0" xyz="0.0 0.0 0.0"/>
      <geometry>
        <sphere radius="0.03"/>
      </geometry>
    </collision>
  </link>
  <gazebo reference="omni_sphere1_left_rear">
    <material>Gazebo/Grey</material>
    <turnGravityOff>false</turnGravityOff>
  </gazebo>
  <joint name="omni_sphere1_joint_right_rear" type="continuous">
    <parent link="wheel_right_rear"/>
    <child link="omni_sphere1_right_rear"/>
    <axis xyz="0 1 0"/>
    <origin rpy="0.0 0 0" xyz="0.0 0.03 0.0"/>
    <dynamics damping="0.01" friction="0.0"/>
    <limit effort="0.5" velocity="0.05"/>
  </joint>
  <link name="omni_sphere1_right_rear">
    <inertial>
      <origin rpy="0 0 0" xyz="0.0 0.0 0.0"/>
      <mass value="0.05"/>
      <inertia ixx="0.000018" ixy="0" ixz="0" iyy="0.000018" iyz="0" izz="0.000018"/>
    </inertial>
    <visual>
      <origin rpy="0 0 0" xyz="0.0 0.0 0.0"/>
      <geometry>
        <sphere radius="0.03"/>
      </geometry>
      <material name="Grey">
     </material>
    </visual>
    <collision>
      <origin rpy="0 0 0" xyz="0.0 0.0 0.0"/>
      <geometry>
        <sphere radius="0.03"/>
      </geometry>
    </collision>
  </link>
  <gazebo reference="omni_sphere1_right_rear">
    <material>Gazebo/Grey</material>
    <turnGravityOff>false</turnGravityOff>
  </gazebo>
  <joint name="omni_sphere2_joint_left_front" type="continuous">
    <parent link="wheel_left_front"/>
    <child link="omni_sphere2_left_front"/>
    <axis xyz="0 1 0"/>
    <origin rpy="0.5236 0 0" xyz="0.0 0.026 0.015"/>
    <dynamics damping="0.01" friction="0.0"/>
    <limit effort="0.5" velocity="0.05"/>
  </joint>
  <link name="omni_sphere2_left_front">
    <inertial>
      <origin rpy="0 0 0" xyz="0.0 0.0 0.0"/>
      <mass value="0.05"/>
      <inertia ixx="0.000018" ixy="0" ixz="0" iyy="0.000018" iyz="0" izz="0.000018"/>
    </inertial>
    <visual>
      <origin rpy="0 0 0" xyz="0.0 0.0 0.0"/>
      <geometry>
        <sphere radius="0.03"/>
      </geometry>
      <material name="Grey">
     </material>
    </visual>
    <collision>
      <origin rpy="0 0 0" xyz="0.0 0.0 0.0"/>
      <geometry>
        <sphere radius="0.03"/>
      </geometry>
    </collision>
  </link>
  <gazebo reference="omni_sphere2_left_front">
    <material>Gazebo/Grey</material>
    <turnGravityOff>false</turnGravityOff>
  </gazebo>
  <joint name="omni_sphere2_joint_right_front" type="continuous">
    <parent link="wheel_right_front"/>
    <child link="omni_sphere2_right_front"/>
    <axis xyz="0 1 0"/>
    <origin rpy="0.5236 0 0" xyz="0.0 0.026 0.015"/>
    <dynamics damping="0.01" friction="0.0"/>
    <limit effort="0.5" velocity="0.05"/>
  </joint>
  <link name="omni_sphere2_right_front">
    <inertial>
      <origin rpy="0 0 0" xyz="0.0 0.0 0.0"/>
      <mass value="0.05"/>
      <inertia ixx="0.000018" ixy="0" ixz="0" iyy="0.000018" iyz="0" izz="0.000018"/>
    </inertial>
    <visual>
      <origin rpy="0 0 0" xyz="0.0 0.0 0.0"/>
      <geometry>
        <sphere radius="0.03"/>
      </geometry>
      <material name="Grey">
     </material>
    </visual>
    <collision>
      <origin rpy="0 0 0" xyz="0.0 0.0 0.0"/>
      <geometry>
        <sphere radius="0.03"/>
      </geometry>
    </collision>
  </link>
  <gazebo reference="omni_sphere2_right_front">
    <material>Gazebo/Grey</material>
    <turnGravityOff>false</turnGravityOff>
  </gazebo>
  <joint name="omni_sphere2_joint_left_rear" type="continuous">
    <parent link="wheel_left_rear"/>
    <child link="omni_sphere2_left_rear"/>
    <axis xyz="0 1 0"/>
    <origin rpy="0.5236 0 0" xyz="0.0 0.026 0.015"/>
    <dynamics damping="0.01" friction="0.0"/>
    <limit effort="0.5" velocity="0.05"/>
  </joint>
  <link name="omni_sphere2_left_rear">
    <inertial>
      <origin rpy="0 0 0" xyz="0.0 0.0 0.0"/>
      <mass value="0.05"/>
      <inertia ixx="0.000018" ixy="0" ixz="0" iyy="0.000018" iyz="0" izz="0.000018"/>
    </inertial>
    <visual>
      <origin rpy="0 0 0" xyz="0.0 0.0 0.0"/>
      <geometry>
        <sphere radius="0.03"/>
      </geometry>
      <material name="Grey">
     </material>
    </visual>
    <collision>
      <origin rpy="0 0 0" xyz="0.0 0.0 0.0"/>
      <geometry>
        <sphere radius="0.03"/>
      </geometry>
    </collision>
  </link>
  <gazebo reference="omni_sphere2_left_rear">
    <material>Gazebo/Grey</material>
    <turnGravityOff>false</turnGravityOff>
  </gazebo>
  <joint name="omni_sphere2_joint_right_rear" type="continuous">
    <parent link="wheel_right_rear"/>
    <child link="omni_sphere2_right_rear"/>
    <axis xyz="0 1 0"/>
    <origin rpy="0.5236 0 0" xyz="0.0 0.026 0.015"/>
    <dynamics damping="0.01" friction="0.0"/>
    <limit effort="0.5" velocity="0.05"/>
  </joint>
  <link name="omni_sphere2_right_rear">
    <inertial>
      <origin rpy="0 0 0" xyz="0.0 0.0 0.0"/>
      <mass value="0.05"/>
      <inertia ixx="0.000018" ixy="0" ixz="0" iyy="0.000018" iyz="0" izz="0.000018"/>
    </inertial>
    <visual>
      <origin rpy="0 0 0" xyz="0.0 0.0 0.0"/>
      <geometry>
        <sphere radius="0.03"/>
      </geometry>
      <material name="Grey">
     </material>
    </visual>
    <collision>
      <origin rpy="0 0 0" xyz="0.0 0.0 0.0"/>
      <geometry>
        <sphere radius="0.03"/>
      </geometry>
    </collision>
  </link>
  <gazebo reference="omni_sphere2_right_rear">
    <material>Gazebo/Grey</material>
    <turnGravityOff>false</turnGravityOff>
  </gazebo>
  <joint name="omni_sphere3_joint_left_front" type="continuous">
    <parent link="wheel_left_front"/>
    <child link="omni_sphere3_left_front"/>
    <axis xyz="0 1 0"/>
    <origin rpy="1.0472 0 0" xyz="0.0 0.015 0.026"/>
    <dynamics damping="0.01" friction="0.0"/>
    <limit effort="0.5" velocity="0.05"/>
  </joint>
  <link name="omni_sphere3_left_front">
    <inertial>
      <origin rpy="0 0 0" xyz="0.0 0.0 0.0"/>
      <mass value="0.05"/>
      <inertia ixx="0.000018" ixy="0" ixz="0" iyy="0.000018" iyz="0" izz="0.000018"/>
    </inertial>
    <visual>
      <origin rpy="0 0 0" xyz="0.0 0.0 0.0"/>
      <geometry>
        <sphere radius="0.03"/>
      </geometry>
      <material name="Grey">
     </material>
    </visual>
    <collision>
      <origin rpy="0 0 0" xyz="0.0 0.0 0.0"/>
      <geometry>
        <sphere radius="0.03"/>
      </geometry>
    </collision>
  </link>
  <gazebo reference="omni_sphere3_left_front">
    <material>Gazebo/Grey</material>
    <turnGravityOff>false</turnGravityOff>
  </gazebo>
  <joint name="omni_sphere3_joint_right_front" type="continuous">
    <parent link="wheel_right_front"/>
    <child link="omni_sphere3_right_front"/>
    <axis xyz="0 1 0"/>
    <origin rpy="1.0472 0 0" xyz="0.0 0.015 0.026"/>
    <dynamics damping="0.01" friction="0.0"/>
    <limit effort="0.5" velocity="0.05"/>
  </joint>
  <link name="omni_sphere3_right_front">
    <inertial>
      <origin rpy="0 0 0" xyz="0.0 0.0 0.0"/>
      <mass value="0.05"/>
      <inertia ixx="0.000018" ixy="0" ixz="0" iyy="0.000018" iyz="0" izz="0.000018"/>
    </inertial>
    <visual>
      <origin rpy="0 0 0" xyz="0.0 0.0 0.0"/>
      <geometry>
        <sphere radius="0.03"/>
      </geometry>
      <material name="Grey">
     </material>
    </visual>
    <collision>
      <origin rpy="0 0 0" xyz="0.0 0.0 0.0"/>
      <geometry>
        <sphere radius="0.03"/>
      </geometry>
    </collision>
  </link>
  <gazebo reference="omni_sphere3_right_front">
    <material>Gazebo/Grey</material>
    <turnGravityOff>false</turnGravityOff>
  </gazebo>
  <joint name="omni_sphere3_joint_left_rear" type="continuous">
    <parent link="wheel_left_rear"/>
    <child link="omni_sphere3_left_rear"/>
    <axis xyz="0 1 0"/>
    <origin rpy="1.0472 0 0" xyz="0.0 0.015 0.026"/>
    <dynamics damping="0.01" friction="0.0"/>
    <limit effort="0.5" velocity="0.05"/>
  </joint>
  <link name="omni_sphere3_left_rear">
    <inertial>
      <origin rpy="0 0 0" xyz="0.0 0.0 0.0"/>
      <mass value="0.05"/>
      <inertia ixx="0.000018" ixy="0" ixz="0" iyy="0.000018" iyz="0" izz="0.000018"/>
    </inertial>
    <visual>
      <origin rpy="0 0 0" xyz="0.0 0.0 0.0"/>
      <geometry>
        <sphere radius="0.03"/>
      </geometry>
      <material name="Grey">
     </material>
    </visual>
    <collision>
      <origin rpy="0 0 0" xyz="0.0 0.0 0.0"/>
      <geometry>
        <sphere radius="0.03"/>
      </geometry>
    </collision>
  </link>
  <gazebo reference="omni_sphere3_left_rear">
    <material>Gazebo/Grey</material>
    <turnGravityOff>false</turnGravityOff>
  </gazebo>
  <joint name="omni_sphere3_joint_right_rear" type="continuous">
    <parent link="wheel_right_rear"/>
    <child link="omni_sphere3_right_rear"/>
    <axis xyz="0 1 0"/>
    <origin rpy="1.0472 0 0" xyz="0.0 0.015 0.026"/>
    <dynamics damping="0.01" friction="0.0"/>
    <limit effort="0.5" velocity="0.05"/>
  </joint>
  <link name="omni_sphere3_right_rear">
    <inertial>
      <origin rpy="0 0 0" xyz="0.0 0.0 0.0"/>
      <mass value="0.05"/>
      <inertia ixx="0.000018" ixy="0" ixz="0" iyy="0.000018" iyz="0" izz="0.000018"/>
    </inertial>
    <visual>
      <origin rpy="0 0 0" xyz="0.0 0.0 0.0"/>
      <geometry>
        <sphere radius="0.03"/>
      </geometry>
      <material name="Grey">
     </material>
    </visual>
    <collision>
      <origin rpy="0 0 0" xyz="0.0 0.0 0.0"/>
      <geometry>
        <sphere radius="0.03"/>
      </geometry>
    </collision>
  </link>
  <gazebo reference="omni_sphere3_right_rear">
    <material>Gazebo/Grey</material>
    <turnGravityOff>false</turnGravityOff>
  </gazebo>
  <joint name="omni_sphere4_joint_left_front" type="continuous">
    <parent link="wheel_left_front"/>
    <child link="omni_sphere4_left_front"/>
    <axis xyz="0 1 0"/>
    <origin rpy="1.5708 0 0" xyz="0.0 0 0.03"/>
    <dynamics damping="0.01" friction="0.0"/>
    <limit effort="0.5" velocity="0.05"/>
  </joint>
  <link name="omni_sphere4_left_front">
    <inertial>
      <origin rpy="0 0 0" xyz="0.0 0.0 0.0"/>
      <mass value="0.05"/>
      <inertia ixx="0.000018" ixy="0" ixz="0" iyy="0.000018" iyz="0" izz="0.000018"/>
    </inertial>
    <visual>
      <origin rpy="0 0 0" xyz="0.0 0.0 0.0"/>
      <geometry>
        <sphere radius="0.03"/>
      </geometry>
      <material name="Grey">
     </material>
    </visual>
    <collision>
      <origin rpy="0 0 0" xyz="0.0 0.0 0.0"/>
      <geometry>
        <sphere radius="0.03"/>
      </geometry>
    </collision>
  </link>
  <gazebo reference="omni_sphere4_left_front">
    <material>Gazebo/Grey</material>
    <turnGravityOff>false</turnGravityOff>
  </gazebo>
  <joint name="omni_sphere4_joint_right_front" type="continuous">
    <parent link="wheel_right_front"/>
    <child link="omni_sphere4_right_front"/>
    <axis xyz="0 1 0"/>
    <origin rpy="1.5708 0 0" xyz="0.0 0 0.03"/>
    <dynamics damping="0.01" friction="0.0"/>
    <limit effort="0.5" velocity="0.05"/>
  </joint>
  <link name="omni_sphere4_right_front">
    <inertial>
      <origin rpy="0 0 0" xyz="0.0 0.0 0.0"/>
      <mass value="0.05"/>
      <inertia ixx="0.000018" ixy="0" ixz="0" iyy="0.000018" iyz="0" izz="0.000018"/>
    </inertial>
    <visual>
      <origin rpy="0 0 0" xyz="0.0 0.0 0.0"/>
      <geometry>
        <sphere radius="0.03"/>
      </geometry>
      <material name="Grey">
     </material>
    </visual>
    <collision>
      <origin rpy="0 0 0" xyz="0.0 0.0 0.0"/>
      <geometry>
        <sphere radius="0.03"/>
      </geometry>
    </collision>
  </link>
  <gazebo reference="omni_sphere4_right_front">
    <material>Gazebo/Grey</material>
    <turnGravityOff>false</turnGravityOff>
  </gazebo>
  <joint name="omni_sphere4_joint_left_rear" type="continuous">
    <parent link="wheel_left_rear"/>
    <child link="omni_sphere4_left_rear"/>
    <axis xyz="0 1 0"/>
    <origin rpy="1.5708 0 0" xyz="0.0 0 0.03"/>
    <dynamics damping="0.01" friction="0.0"/>
    <limit effort="0.5" velocity="0.05"/>
  </joint>
  <link name="omni_sphere4_left_rear">
    <inertial>
      <origin rpy="0 0 0" xyz="0.0 0.0 0.0"/>
      <mass value="0.05"/>
      <inertia ixx="0.000018" ixy="0" ixz="0" iyy="0.000018" iyz="0" izz="0.000018"/>
    </inertial>
    <visual>
      <origin rpy="0 0 0" xyz="0.0 0.0 0.0"/>
      <geometry>
        <sphere radius="0.03"/>
      </geometry>
      <material name="Grey">
     </material>
    </visual>
    <collision>
      <origin rpy="0 0 0" xyz="0.0 0.0 0.0"/>
      <geometry>
        <sphere radius="0.03"/>
      </geometry>
    </collision>
  </link>
  <gazebo reference="omni_sphere4_left_rear">
    <material>Gazebo/Grey</material>
    <turnGravityOff>false</turnGravityOff>
  </gazebo>
  <joint name="omni_sphere4_joint_right_rear" type="continuous">
    <parent link="wheel_right_rear"/>
    <child link="omni_sphere4_right_rear"/>
    <axis xyz="0 1 0"/>
    <origin rpy="1.5708 0 0" xyz="0.0 0 0.03"/>
    <dynamics damping="0.01" friction="0.0"/>
    <limit effort="0.5" velocity="0.05"/>
  </joint>
  <link name="omni_sphere4_right_rear">
    <inertial>
      <origin rpy="0 0 0" xyz="0.0 0.0 0.0"/>
      <mass value="0.05"/>
      <inertia ixx="0.000018" ixy="0" ixz="0" iyy="0.000018" iyz="0" izz="0.000018"/>
    </inertial>
    <visual>
      <origin rpy="0 0 0" xyz="0.0 0.0 0.0"/>
      <geometry>
        <sphere radius="0.03"/>
      </geometry>
      <material name="Grey">
     </material>
    </visual>
    <collision>
      <origin rpy="0 0 0" xyz="0.0 0.0 0.0"/>
      <geometry>
        <sphere radius="0.03"/>
      </geometry>
    </collision>
  </link>
  <gazebo reference="omni_sphere4_right_rear">
    <material>Gazebo/Grey</material>
    <turnGravityOff>false</turnGravityOff>
  </gazebo>
  <joint name="omni_sphere5_joint_left_front" type="continuous">
    <parent link="wheel_left_front"/>
    <child link="omni_sphere5_left_front"/>
    <axis xyz="0 1 0"/>
    <origin rpy="2.0944 0 0" xyz="0.0 -0.015 0.026"/>
    <dynamics damping="0.01" friction="0.0"/>
    <limit effort="0.5" velocity="0.05"/>
  </joint>
  <link name="omni_sphere5_left_front">
    <inertial>
      <origin rpy="0 0 0" xyz="0.0 0.0 0.0"/>
      <mass value="0.05"/>
      <inertia ixx="0.000018" ixy="0" ixz="0" iyy="0.000018" iyz="0" izz="0.000018"/>
    </inertial>
    <visual>
      <origin rpy="0 0 0" xyz="0.0 0.0 0.0"/>
      <geometry>
        <sphere radius="0.03"/>
      </geometry>
      <material name="Grey">
     </material>
    </visual>
    <collision>
      <origin rpy="0 0 0" xyz="0.0 0.0 0.0"/>
      <geometry>
        <sphere radius="0.03"/>
      </geometry>
    </collision>
  </link>
  <gazebo reference="omni_sphere5_left_front">
    <material>Gazebo/Grey</material>
    <turnGravityOff>false</turnGravityOff>
  </gazebo>
  <joint name="omni_sphere5_joint_right_front" type="continuous">
    <parent link="wheel_right_front"/>
    <child link="omni_sphere5_right_front"/>
    <axis xyz="0 1 0"/>
    <origin rpy="2.0944 0 0" xyz="0.0 -0.015 0.026"/>
    <dynamics damping="0.01" friction="0.0"/>
    <limit effort="0.5" velocity="0.05"/>
  </joint>
  <link name="omni_sphere5_right_front">
    <inertial>
      <origin rpy="0 0 0" xyz="0.0 0.0 0.0"/>
      <mass value="0.05"/>
      <inertia ixx="0.000018" ixy="0" ixz="0" iyy="0.000018" iyz="0" izz="0.000018"/>
    </inertial>
    <visual>
      <origin rpy="0 0 0" xyz="0.0 0.0 0.0"/>
      <geometry>
        <sphere radius="0.03"/>
      </geometry>
      <material name="Grey">
     </material>
    </visual>
    <collision>
      <origin rpy="0 0 0" xyz="0.0 0.0 0.0"/>
      <geometry>
        <sphere radius="0.03"/>
      </geometry>
    </collision>
  </link>
  <gazebo reference="omni_sphere5_right_front">
    <material>Gazebo/Grey</material>
    <turnGravityOff>false</turnGravityOff>
  </gazebo>
  <joint name="omni_sphere5_joint_left_rear" type="continuous">
    <parent link="wheel_left_rear"/>
    <child link="omni_sphere5_left_rear"/>
    <axis xyz="0 1 0"/>
    <origin rpy="2.0944 0 0" xyz="0.0 -0.015 0.026"/>
    <dynamics damping="0.01" friction="0.0"/>
    <limit effort="0.5" velocity="0.05"/>
  </joint>
  <link name="omni_sphere5_left_rear">
    <inertial>
      <origin rpy="0 0 0" xyz="0.0 0.0 0.0"/>
      <mass value="0.05"/>
      <inertia ixx="0.000018" ixy="0" ixz="0" iyy="0.000018" iyz="0" izz="0.000018"/>
    </inertial>
    <visual>
      <origin rpy="0 0 0" xyz="0.0 0.0 0.0"/>
      <geometry>
        <sphere radius="0.03"/>
      </geometry>
      <material name="Grey">
     </material>
    </visual>
    <collision>
      <origin rpy="0 0 0" xyz="0.0 0.0 0.0"/>
      <geometry>
        <sphere radius="0.03"/>
      </geometry>
    </collision>
  </link>
  <gazebo reference="omni_sphere5_left_rear">
    <material>Gazebo/Grey</material>
    <turnGravityOff>false</turnGravityOff>
  </gazebo>
  <joint name="omni_sphere5_joint_right_rear" type="continuous">
    <parent link="wheel_right_rear"/>
    <child link="omni_sphere5_right_rear"/>
    <axis xyz="0 1 0"/>
    <origin rpy="2.0944 0 0" xyz="0.0 -0.015 0.026"/>
    <dynamics damping="0.01" friction="0.0"/>
    <limit effort="0.5" velocity="0.05"/>
  </joint>
  <link name="omni_sphere5_right_rear">
    <inertial>
      <origin rpy="0 0 0" xyz="0.0 0.0 0.0"/>
      <mass value="0.05"/>
      <inertia ixx="0.000018" ixy="0" ixz="0" iyy="0.000018" iyz="0" izz="0.000018"/>
    </inertial>
    <visual>
      <origin rpy="0 0 0" xyz="0.0 0.0 0.0"/>
      <geometry>
        <sphere radius="0.03"/>
      </geometry>
      <material name="Grey">
     </material>
    </visual>
    <collision>
      <origin rpy="0 0 0" xyz="0.0 0.0 0.0"/>
      <geometry>
        <sphere radius="0.03"/>
      </geometry>
    </collision>
  </link>
  <gazebo reference="omni_sphere5_right_rear">
    <material>Gazebo/Grey</material>
    <turnGravityOff>false</turnGravityOff>
  </gazebo>
  <joint name="omni_sphere6_joint_left_front" type="continuous">
    <parent link="wheel_left_front"/>
    <child link="omni_sphere6_left_front"/>
    <axis xyz="0 1 0"/>
    <origin rpy="2.618 0 0" xyz="0.0 -0.026 0.015"/>
    <dynamics damping="0.01" friction="0.0"/>
    <limit effort="0.5" velocity="0.05"/>
  </joint>
  <link name="omni_sphere6_left_front">
    <inertial>
      <origin rpy="0 0 0" xyz="0.0 0.0 0.0"/>
      <mass value="0.05"/>
      <inertia ixx="0.000018" ixy="0" ixz="0" iyy="0.000018" iyz="0" izz="0.000018"/>
    </inertial>
    <visual>
      <origin rpy="0 0 0" xyz="0.0 0.0 0.0"/>
      <geometry>
        <sphere radius="0.03"/>
      </geometry>
      <material name="Grey">
     </material>
    </visual>
    <collision>
      <origin rpy="0 0 0" xyz="0.0 0.0 0.0"/>
      <geometry>
        <sphere radius="0.03"/>
      </geometry>
    </collision>
  </link>
  <gazebo reference="omni_sphere6_left_front">
    <material>Gazebo/Grey</material>
    <turnGravityOff>false</turnGravityOff>
  </gazebo>
  <joint name="omni_sphere6_joint_right_front" type="continuous">
    <parent link="wheel_right_front"/>
    <child link="omni_sphere6_right_front"/>
    <axis xyz="0 1 0"/>
    <origin rpy="2.618 0 0" xyz="0.0 -0.026 0.015"/>
    <dynamics damping="0.01" friction="0.0"/>
    <limit effort="0.5" velocity="0.05"/>
  </joint>
  <link name="omni_sphere6_right_front">
    <inertial>
      <origin rpy="0 0 0" xyz="0.0 0.0 0.0"/>
      <mass value="0.05"/>
      <inertia ixx="0.000018" ixy="0" ixz="0" iyy="0.000018" iyz="0" izz="0.000018"/>
    </inertial>
    <visual>
      <origin rpy="0 0 0" xyz="0.0 0.0 0.0"/>
      <geometry>
        <sphere radius="0.03"/>
      </geometry>
      <material name="Grey">
     </material>
    </visual>
    <collision>
      <origin rpy="0 0 0" xyz="0.0 0.0 0.0"/>
      <geometry>
        <sphere radius="0.03"/>
      </geometry>
    </collision>
  </link>
  <gazebo reference="omni_sphere6_right_front">
    <material>Gazebo/Grey</material>
    <turnGravityOff>false</turnGravityOff>
  </gazebo>
  <joint name="omni_sphere6_joint_left_rear" type="continuous">
    <parent link="wheel_left_rear"/>
    <child link="omni_sphere6_left_rear"/>
    <axis xyz="0 1 0"/>
    <origin rpy="2.618 0 0" xyz="0.0 -0.026 0.015"/>
    <dynamics damping="0.01" friction="0.0"/>
    <limit effort="0.5" velocity="0.05"/>
  </joint>
  <link name="omni_sphere6_left_rear">
    <inertial>
      <origin rpy="0 0 0" xyz="0.0 0.0 0.0"/>
      <mass value="0.05"/>
      <inertia ixx="0.000018" ixy="0" ixz="0" iyy="0.000018" iyz="0" izz="0.000018"/>
    </inertial>
    <visual>
      <origin rpy="0 0 0" xyz="0.0 0.0 0.0"/>
      <geometry>
        <sphere radius="0.03"/>
      </geometry>
      <material name="Grey">
     </material>
    </visual>
    <collision>
      <origin rpy="0 0 0" xyz="0.0 0.0 0.0"/>
      <geometry>
        <sphere radius="0.03"/>
      </geometry>
    </collision>
  </link>
  <gazebo reference="omni_sphere6_left_rear">
    <material>Gazebo/Grey</material>
    <turnGravityOff>false</turnGravityOff>
  </gazebo>
  <joint name="omni_sphere6_joint_right_rear" type="continuous">
    <parent link="wheel_right_rear"/>
    <child link="omni_sphere6_right_rear"/>
    <axis xyz="0 1 0"/>
    <origin rpy="2.618 0 0" xyz="0.0 -0.026 0.015"/>
    <dynamics damping="0.01" friction="0.0"/>
    <limit effort="0.5" velocity="0.05"/>
  </joint>
  <link name="omni_sphere6_right_rear">
    <inertial>
      <origin rpy="0 0 0" xyz="0.0 0.0 0.0"/>
      <mass value="0.05"/>
      <inertia ixx="0.000018" ixy="0" ixz="0" iyy="0.000018" iyz="0" izz="0.000018"/>
    </inertial>
    <visual>
      <origin rpy="0 0 0" xyz="0.0 0.0 0.0"/>
      <geometry>
        <sphere radius="0.03"/>
      </geometry>
      <material name="Grey">
     </material>
    </visual>
    <collision>
      <origin rpy="0 0 0" xyz="0.0 0.0 0.0"/>
      <geometry>
        <sphere radius="0.03"/>
      </geometry>
    </collision>
  </link>
  <gazebo reference="omni_sphere6_right_rear">
    <material>Gazebo/Grey</material>
    <turnGravityOff>false</turnGravityOff>
  </gazebo>
  <joint name="omni_sphere7_joint_left_front" type="continuous">
    <parent link="wheel_left_front"/>
    <child link="omni_sphere7_left_front"/>
    <axis xyz="0 1 0"/>
    <origin rpy="3.1416 0 0" xyz="0.0 -0.03 0.0"/>
    <dynamics damping="0.01" friction="0.0"/>
    <limit effort="0.5" velocity="0.05"/>
  </joint>
  <link name="omni_sphere7_left_front">
    <inertial>
      <origin rpy="0 0 0" xyz="0.0 0.0 0.0"/>
      <mass value="0.05"/>
      <inertia ixx="0.000018" ixy="0" ixz="0" iyy="0.000018" iyz="0" izz="0.000018"/>
    </inertial>
    <visual>
      <origin rpy="0 0 0" xyz="0.0 0.0 0.0"/>
      <geometry>
        <sphere radius="0.03"/>
      </geometry>
      <material name="Grey">
     </material>
    </visual>
    <collision>
      <origin rpy="0 0 0" xyz="0.0 0.0 0.0"/>
      <geometry>
        <sphere radius="0.03"/>
      </geometry>
    </collision>
  </link>
  <gazebo reference="omni_sphere7_left_front">
    <material>Gazebo/Grey</material>
    <turnGravityOff>false</turnGravityOff>
  </gazebo>
  <joint name="omni_sphere7_joint_right_front" type="continuous">
    <parent link="wheel_right_front"/>
    <child link="omni_sphere7_right_front"/>
    <axis xyz="0 1 0"/>
    <origin rpy="3.1416 0 0" xyz="0.0 -0.03 0.0"/>
    <dynamics damping="0.01" friction="0.0"/>
    <limit effort="0.5" velocity="0.05"/>
  </joint>
  <link name="omni_sphere7_right_front">
    <inertial>
      <origin rpy="0 0 0" xyz="0.0 0.0 0.0"/>
      <mass value="0.05"/>
      <inertia ixx="0.000018" ixy="0" ixz="0" iyy="0.000018" iyz="0" izz="0.000018"/>
    </inertial>
    <visual>
      <origin rpy="0 0 0" xyz="0.0 0.0 0.0"/>
      <geometry>
        <sphere radius="0.03"/>
      </geometry>
      <material name="Grey">
     </material>
    </visual>
    <collision>
      <origin rpy="0 0 0" xyz="0.0 0.0 0.0"/>
      <geometry>
        <sphere radius="0.03"/>
      </geometry>
    </collision>
  </link>
  <gazebo reference="omni_sphere7_right_front">
    <material>Gazebo/Grey</material>
    <turnGravityOff>false</turnGravityOff>
  </gazebo>
  <joint name="omni_sphere7_joint_left_rear" type="continuous">
    <parent link="wheel_left_rear"/>
    <child link="omni_sphere7_left_rear"/>
    <axis xyz="0 1 0"/>
    <origin rpy="3.1416 0 0" xyz="0.0 -0.03 0.0"/>
    <dynamics damping="0.01" friction="0.0"/>
    <limit effort="0.5" velocity="0.05"/>
  </joint>
  <link name="omni_sphere7_left_rear">
    <inertial>
      <origin rpy="0 0 0" xyz="0.0 0.0 0.0"/>
      <mass value="0.05"/>
      <inertia ixx="0.000018" ixy="0" ixz="0" iyy="0.000018" iyz="0" izz="0.000018"/>
    </inertial>
    <visual>
      <origin rpy="0 0 0" xyz="0.0 0.0 0.0"/>
      <geometry>
        <sphere radius="0.03"/>
      </geometry>
      <material name="Grey">
     </material>
    </visual>
    <collision>
      <origin rpy="0 0 0" xyz="0.0 0.0 0.0"/>
      <geometry>
        <sphere radius="0.03"/>
      </geometry>
    </collision>
  </link>
  <gazebo reference="omni_sphere7_left_rear">
    <material>Gazebo/Grey</material>
    <turnGravityOff>false</turnGravityOff>
  </gazebo>
  <joint name="omni_sphere7_joint_right_rear" type="continuous">
    <parent link="wheel_right_rear"/>
    <child link="omni_sphere7_right_rear"/>
    <axis xyz="0 1 0"/>
    <origin rpy="3.1416 0 0" xyz="0.0 -0.03 0.0"/>
    <dynamics damping="0.01" friction="0.0"/>
    <limit effort="0.5" velocity="0.05"/>
  </joint>
  <link name="omni_sphere7_right_rear">
    <inertial>
      <origin rpy="0 0 0" xyz="0.0 0.0 0.0"/>
      <mass value="0.05"/>
      <inertia ixx="0.000018" ixy="0" ixz="0" iyy="0.000018" iyz="0" izz="0.000018"/>
    </inertial>
    <visual>
      <origin rpy="0 0 0" xyz="0.0 0.0 0.0"/>
      <geometry>
        <sphere radius="0.03"/>
      </geometry>
      <material name="Grey">
     </material>
    </visual>
    <collision>
      <origin rpy="0 0 0" xyz="0.0 0.0 0.0"/>
      <geometry>
        <sphere radius="0.03"/>
      </geometry>
    </collision>
  </link>
  <gazebo reference="omni_sphere7_right_rear">
    <material>Gazebo/Grey</material>
    <turnGravityOff>false</turnGravityOff>
  </gazebo>
  <joint name="omni_sphere8_joint_left_front" type="continuous">
    <parent link="wheel_left_front"/>
    <child link="omni_sphere8_left_front"/>
    <axis xyz="0 1 0"/>
    <origin rpy="3.6652 0 0" xyz="0.0 -0.026 -0.015"/>
    <dynamics damping="0.01" friction="0.0"/>
    <limit effort="0.5" velocity="0.05"/>
  </joint>
  <link name="omni_sphere8_left_front">
    <inertial>
      <origin rpy="0 0 0" xyz="0.0 0.0 0.0"/>
      <mass value="0.05"/>
      <inertia ixx="0.000018" ixy="0" ixz="0" iyy="0.000018" iyz="0" izz="0.000018"/>
    </inertial>
    <visual>
      <origin rpy="0 0 0" xyz="0.0 0.0 0.0"/>
      <geometry>
        <sphere radius="0.03"/>
      </geometry>
      <material name="Grey">
     </material>
    </visual>
    <collision>
      <origin rpy="0 0 0" xyz="0.0 0.0 0.0"/>
      <geometry>
        <sphere radius="0.03"/>
      </geometry>
    </collision>
  </link>
  <gazebo reference="omni_sphere8_left_front">
    <material>Gazebo/Grey</material>
    <turnGravityOff>false</turnGravityOff>
  </gazebo>
  <joint name="omni_sphere8_joint_right_front" type="continuous">
    <parent link="wheel_right_front"/>
    <child link="omni_sphere8_right_front"/>
    <axis xyz="0 1 0"/>
    <origin rpy="3.6652 0 0" xyz="0.0 -0.026 -0.015"/>
    <dynamics damping="0.01" friction="0.0"/>
    <limit effort="0.5" velocity="0.05"/>
  </joint>
  <link name="omni_sphere8_right_front">
    <inertial>
      <origin rpy="0 0 0" xyz="0.0 0.0 0.0"/>
      <mass value="0.05"/>
      <inertia ixx="0.000018" ixy="0" ixz="0" iyy="0.000018" iyz="0" izz="0.000018"/>
    </inertial>
    <visual>
      <origin rpy="0 0 0" xyz="0.0 0.0 0.0"/>
      <geometry>
        <sphere radius="0.03"/>
      </geometry>
      <material name="Grey">
     </material>
    </visual>
    <collision>
      <origin rpy="0 0 0" xyz="0.0 0.0 0.0"/>
      <geometry>
        <sphere radius="0.03"/>
      </geometry>
    </collision>
  </link>
  <gazebo reference="omni_sphere8_right_front">
    <material>Gazebo/Grey</material>
    <turnGravityOff>false</turnGravityOff>
  </gazebo>
  <joint name="omni_sphere8_joint_left_rear" type="continuous">
    <parent link="wheel_left_rear"/>
    <child link="omni_sphere8_left_rear"/>
    <axis xyz="0 1 0"/>
    <origin rpy="3.6652 0 0" xyz="0.0 -0.026 -0.015"/>
    <dynamics damping="0.01" friction="0.0"/>
    <limit effort="0.5" velocity="0.05"/>
  </joint>
  <link name="omni_sphere8_left_rear">
    <inertial>
      <origin rpy="0 0 0" xyz="0.0 0.0 0.0"/>
      <mass value="0.05"/>
      <inertia ixx="0.000018" ixy="0" ixz="0" iyy="0.000018" iyz="0" izz="0.000018"/>
    </inertial>
    <visual>
      <origin rpy="0 0 0" xyz="0.0 0.0 0.0"/>
      <geometry>
        <sphere radius="0.03"/>
      </geometry>
      <material name="Grey">
     </material>
    </visual>
    <collision>
      <origin rpy="0 0 0" xyz="0.0 0.0 0.0"/>
      <geometry>
        <sphere radius="0.03"/>
      </geometry>
    </collision>
  </link>
  <gazebo reference="omni_sphere8_left_rear">
    <material>Gazebo/Grey</material>
    <turnGravityOff>false</turnGravityOff>
  </gazebo>
  <joint name="omni_sphere8_joint_right_rear" type="continuous">
    <parent link="wheel_right_rear"/>
    <child link="omni_sphere8_right_rear"/>
    <axis xyz="0 1 0"/>
    <origin rpy="3.6652 0 0" xyz="0.0 -0.026 -0.015"/>
    <dynamics damping="0.01" friction="0.0"/>
    <limit effort="0.5" velocity="0.05"/>
  </joint>
  <link name="omni_sphere8_right_rear">
    <inertial>
      <origin rpy="0 0 0" xyz="0.0 0.0 0.0"/>
      <mass value="0.05"/>
      <inertia ixx="0.000018" ixy="0" ixz="0" iyy="0.000018" iyz="0" izz="0.000018"/>
    </inertial>
    <visual>
      <origin rpy="0 0 0" xyz="0.0 0.0 0.0"/>
      <geometry>
        <sphere radius="0.03"/>
      </geometry>
      <material name="Grey">
     </material>
    </visual>
    <collision>
      <origin rpy="0 0 0" xyz="0.0 0.0 0.0"/>
      <geometry>
        <sphere radius="0.03"/>
      </geometry>
    </collision>
  </link>
  <gazebo reference="omni_sphere8_right_rear">
    <material>Gazebo/Grey</material>
    <turnGravityOff>false</turnGravityOff>
  </gazebo>
  <joint name="omni_sphere9_joint_left_front" type="continuous">
    <parent link="wheel_left_front"/>
    <child link="omni_sphere9_left_front"/>
    <axis xyz="0 1 0"/>
    <origin rpy="4.1888 0 0" xyz="0.0 -0.015 -0.026"/>
    <dynamics damping="0.01" friction="0.0"/>
    <limit effort="0.5" velocity="0.05"/>
  </joint>
  <link name="omni_sphere9_left_front">
    <inertial>
      <origin rpy="0 0 0" xyz="0.0 0.0 0.0"/>
      <mass value="0.05"/>
      <inertia ixx="0.000018" ixy="0" ixz="0" iyy="0.000018" iyz="0" izz="0.000018"/>
    </inertial>
    <visual>
      <origin rpy="0 0 0" xyz="0.0 0.0 0.0"/>
      <geometry>
        <sphere radius="0.03"/>
      </geometry>
      <material name="Grey">
     </material>
    </visual>
    <collision>
      <origin rpy="0 0 0" xyz="0.0 0.0 0.0"/>
      <geometry>
        <sphere radius="0.03"/>
      </geometry>
    </collision>
  </link>
  <gazebo reference="omni_sphere9_left_front">
    <material>Gazebo/Grey</material>
    <turnGravityOff>false</turnGravityOff>
  </gazebo>
  <joint name="omni_sphere9_joint_right_front" type="continuous">
    <parent link="wheel_right_front"/>
    <child link="omni_sphere9_right_front"/>
    <axis xyz="0 1 0"/>
    <origin rpy="4.1888 0 0" xyz="0.0 -0.015 -0.026"/>
    <dynamics damping="0.01" friction="0.0"/>
    <limit effort="0.5" velocity="0.05"/>
  </joint>
  <link name="omni_sphere9_right_front">
    <inertial>
      <origin rpy="0 0 0" xyz="0.0 0.0 0.0"/>
      <mass value="0.05"/>
      <inertia ixx="0.000018" ixy="0" ixz="0" iyy="0.000018" iyz="0" izz="0.000018"/>
    </inertial>
    <visual>
      <origin rpy="0 0 0" xyz="0.0 0.0 0.0"/>
      <geometry>
        <sphere radius="0.03"/>
      </geometry>
      <material name="Grey">
     </material>
    </visual>
    <collision>
      <origin rpy="0 0 0" xyz="0.0 0.0 0.0"/>
      <geometry>
        <sphere radius="0.03"/>
      </geometry>
    </collision>
  </link>
  <gazebo reference="omni_sphere9_right_front">
    <material>Gazebo/Grey</material>
    <turnGravityOff>false</turnGravityOff>
  </gazebo>
  <joint name="omni_sphere9_joint_left_rear" type="continuous">
    <parent link="wheel_left_rear"/>
    <child link="omni_sphere9_left_rear"/>
    <axis xyz="0 1 0"/>
    <origin rpy="4.1888 0 0" xyz="0.0 -0.015 -0.026"/>
    <dynamics damping="0.01" friction="0.0"/>
    <limit effort="0.5" velocity="0.05"/>
  </joint>
  <link name="omni_sphere9_left_rear">
    <inertial>
      <origin rpy="0 0 0" xyz="0.0 0.0 0.0"/>
      <mass value="0.05"/>
      <inertia ixx="0.000018" ixy="0" ixz="0" iyy="0.000018" iyz="0" izz="0.000018"/>
    </inertial>
    <visual>
      <origin rpy="0 0 0" xyz="0.0 0.0 0.0"/>
      <geometry>
        <sphere radius="0.03"/>
      </geometry>
      <material name="Grey">
     </material>
    </visual>
    <collision>
      <origin rpy="0 0 0" xyz="0.0 0.0 0.0"/>
      <geometry>
        <sphere radius="0.03"/>
      </geometry>
    </collision>
  </link>
  <gazebo reference="omni_sphere9_left_rear">
    <material>Gazebo/Grey</material>
    <turnGravityOff>false</turnGravityOff>
  </gazebo>
  <joint name="omni_sphere9_joint_right_rear" type="continuous">
    <parent link="wheel_right_rear"/>
    <child link="omni_sphere9_right_rear"/>
    <axis xyz="0 1 0"/>
    <origin rpy="4.1888 0 0" xyz="0.0 -0.015 -0.026"/>
    <dynamics damping="0.01" friction="0.0"/>
    <limit effort="0.5" velocity="0.05"/>
  </joint>
  <link name="omni_sphere9_right_rear">
    <inertial>
      <origin rpy="0 0 0" xyz="0.0 0.0 0.0"/>
      <mass value="0.05"/>
      <inertia ixx="0.000018" ixy="0" ixz="0" iyy="0.000018" iyz="0" izz="0.000018"/>
    </inertial>
    <visual>
      <origin rpy="0 0 0" xyz="0.0 0.0 0.0"/>
      <geometry>
        <sphere radius="0.03"/>
      </geometry>
      <material name="Grey">
     </material>
    </visual>
    <collision>
      <origin rpy="0 0 0" xyz="0.0 0.0 0.0"/>
      <geometry>
        <sphere radius="0.03"/>
      </geometry>
    </collision>
  </link>
  <gazebo reference="omni_sphere9_right_rear">
    <material>Gazebo/Grey</material>
    <turnGravityOff>false</turnGravityOff>
  </gazebo>
  <joint name="omni_sphere10_joint_left_front" type="continuous">
    <parent link="wheel_left_front"/>
    <child link="omni_sphere10_left_front"/>
    <axis xyz="0 1 0"/>
    <origin rpy="4.7124 0 0" xyz="0.0 0.0 -0.03"/>
    <dynamics damping="0.01" friction="0.0"/>
    <limit effort="0.5" velocity="0.05"/>
  </joint>
  <link name="omni_sphere10_left_front">
    <inertial>
      <origin rpy="0 0 0" xyz="0.0 0.0 0.0"/>
      <mass value="0.05"/>
      <inertia ixx="0.000018" ixy="0" ixz="0" iyy="0.000018" iyz="0" izz="0.000018"/>
    </inertial>
    <visual>
      <origin rpy="0 0 0" xyz="0.0 0.0 0.0"/>
      <geometry>
        <sphere radius="0.03"/>
      </geometry>
      <material name="Grey">
     </material>
    </visual>
    <collision>
      <origin rpy="0 0 0" xyz="0.0 0.0 0.0"/>
      <geometry>
        <sphere radius="0.03"/>
      </geometry>
    </collision>
  </link>
  <gazebo reference="omni_sphere10_left_front">
    <material>Gazebo/Grey</material>
    <turnGravityOff>false</turnGravityOff>
  </gazebo>
  <joint name="omni_sphere10_joint_right_front" type="continuous">
    <parent link="wheel_right_front"/>
    <child link="omni_sphere10_right_front"/>
    <axis xyz="0 1 0"/>
    <origin rpy="4.7124 0 0" xyz="0.0 0.0 -0.03"/>
    <dynamics damping="0.01" friction="0.0"/>
    <limit effort="0.5" velocity="0.05"/>
  </joint>
  <link name="omni_sphere10_right_front">
    <inertial>
      <origin rpy="0 0 0" xyz="0.0 0.0 0.0"/>
      <mass value="0.05"/>
      <inertia ixx="0.000018" ixy="0" ixz="0" iyy="0.000018" iyz="0" izz="0.000018"/>
    </inertial>
    <visual>
      <origin rpy="0 0 0" xyz="0.0 0.0 0.0"/>
      <geometry>
        <sphere radius="0.03"/>
      </geometry>
      <material name="Grey">
     </material>
    </visual>
    <collision>
      <origin rpy="0 0 0" xyz="0.0 0.0 0.0"/>
      <geometry>
        <sphere radius="0.03"/>
      </geometry>
    </collision>
  </link>
  <gazebo reference="omni_sphere10_right_front">
    <material>Gazebo/Grey</material>
    <turnGravityOff>false</turnGravityOff>
  </gazebo>
  <joint name="omni_sphere10_joint_left_rear" type="continuous">
    <parent link="wheel_left_rear"/>
    <child link="omni_sphere10_left_rear"/>
    <axis xyz="0 1 0"/>
    <origin rpy="4.7124 0 0" xyz="0.0 0.0 -0.03"/>
    <dynamics damping="0.01" friction="0.0"/>
    <limit effort="0.5" velocity="0.05"/>
  </joint>
  <link name="omni_sphere10_left_rear">
    <inertial>
      <origin rpy="0 0 0" xyz="0.0 0.0 0.0"/>
      <mass value="0.05"/>
      <inertia ixx="0.000018" ixy="0" ixz="0" iyy="0.000018" iyz="0" izz="0.000018"/>
    </inertial>
    <visual>
      <origin rpy="0 0 0" xyz="0.0 0.0 0.0"/>
      <geometry>
        <sphere radius="0.03"/>
      </geometry>
      <material name="Grey">
     </material>
    </visual>
    <collision>
      <origin rpy="0 0 0" xyz="0.0 0.0 0.0"/>
      <geometry>
        <sphere radius="0.03"/>
      </geometry>
    </collision>
  </link>
  <gazebo reference="omni_sphere10_left_rear">
    <material>Gazebo/Grey</material>
    <turnGravityOff>false</turnGravityOff>
  </gazebo>
  <joint name="omni_sphere10_joint_right_rear" type="continuous">
    <parent link="wheel_right_rear"/>
    <child link="omni_sphere10_right_rear"/>
    <axis xyz="0 1 0"/>
    <origin rpy="4.7124 0 0" xyz="0.0 0.0 -0.03"/>
    <dynamics damping="0.01" friction="0.0"/>
    <limit effort="0.5" velocity="0.05"/>
  </joint>
  <link name="omni_sphere10_right_rear">
    <inertial>
      <origin rpy="0 0 0" xyz="0.0 0.0 0.0"/>
      <mass value="0.05"/>
      <inertia ixx="0.000018" ixy="0" ixz="0" iyy="0.000018" iyz="0" izz="0.000018"/>
    </inertial>
    <visual>
      <origin rpy="0 0 0" xyz="0.0 0.0 0.0"/>
      <geometry>
        <sphere radius="0.03"/>
      </geometry>
      <material name="Grey">
     </material>
    </visual>
    <collision>
      <origin rpy="0 0 0" xyz="0.0 0.0 0.0"/>
      <geometry>
        <sphere radius="0.03"/>
      </geometry>
    </collision>
  </link>
  <gazebo reference="omni_sphere10_right_rear">
    <material>Gazebo/Grey</material>
    <turnGravityOff>false</turnGravityOff>
  </gazebo>
  <joint name="omni_sphere11_joint_left_front" type="continuous">
    <parent link="wheel_left_front"/>
    <child link="omni_sphere11_left_front"/>
    <axis xyz="0 1 0"/>
    <origin rpy="5.236 0 0" xyz="0.0 0.015 -0.026"/>
    <dynamics damping="0.01" friction="0.0"/>
    <limit effort="0.5" velocity="0.05"/>
  </joint>
  <link name="omni_sphere11_left_front">
    <inertial>
      <origin rpy="0 0 0" xyz="0.0 0.0 0.0"/>
      <mass value="0.05"/>
      <inertia ixx="0.000018" ixy="0" ixz="0" iyy="0.000018" iyz="0" izz="0.000018"/>
    </inertial>
    <visual>
      <origin rpy="0 0 0" xyz="0.0 0.0 0.0"/>
      <geometry>
        <sphere radius="0.03"/>
      </geometry>
      <material name="Grey">
     </material>
    </visual>
    <collision>
      <origin rpy="0 0 0" xyz="0.0 0.0 0.0"/>
      <geometry>
        <sphere radius="0.03"/>
      </geometry>
    </collision>
  </link>
  <gazebo reference="omni_sphere11_left_front">
    <material>Gazebo/Grey</material>
    <turnGravityOff>false</turnGravityOff>
  </gazebo>
  <joint name="omni_sphere11_joint_right_front" type="continuous">
    <parent link="wheel_right_front"/>
    <child link="omni_sphere11_right_front"/>
    <axis xyz="0 1 0"/>
    <origin rpy="5.236 0 0" xyz="0.0 0.015 -0.026"/>
    <dynamics damping="0.01" friction="0.0"/>
    <limit effort="0.5" velocity="0.05"/>
  </joint>
  <link name="omni_sphere11_right_front">
    <inertial>
      <origin rpy="0 0 0" xyz="0.0 0.0 0.0"/>
      <mass value="0.05"/>
      <inertia ixx="0.000018" ixy="0" ixz="0" iyy="0.000018" iyz="0" izz="0.000018"/>
    </inertial>
    <visual>
      <origin rpy="0 0 0" xyz="0.0 0.0 0.0"/>
      <geometry>
        <sphere radius="0.03"/>
      </geometry>
      <material name="Grey">
     </material>
    </visual>
    <collision>
      <origin rpy="0 0 0" xyz="0.0 0.0 0.0"/>
      <geometry>
        <sphere radius="0.03"/>
      </geometry>
    </collision>
  </link>
  <gazebo reference="omni_sphere11_right_front">
    <material>Gazebo/Grey</material>
    <turnGravityOff>false</turnGravityOff>
  </gazebo>
  <joint name="omni_sphere11_joint_left_rear" type="continuous">
    <parent link="wheel_left_rear"/>
    <child link="omni_sphere11_left_rear"/>
    <axis xyz="0 1 0"/>
    <origin rpy="5.236 0 0" xyz="0.0 0.015 -0.026"/>
    <dynamics damping="0.01" friction="0.0"/>
    <limit effort="0.5" velocity="0.05"/>
  </joint>
  <link name="omni_sphere11_left_rear">
    <inertial>
      <origin rpy="0 0 0" xyz="0.0 0.0 0.0"/>
      <mass value="0.05"/>
      <inertia ixx="0.000018" ixy="0" ixz="0" iyy="0.000018" iyz="0" izz="0.000018"/>
    </inertial>
    <visual>
      <origin rpy="0 0 0" xyz="0.0 0.0 0.0"/>
      <geometry>
        <sphere radius="0.03"/>
      </geometry>
      <material name="Grey">
     </material>
    </visual>
    <collision>
      <origin rpy="0 0 0" xyz="0.0 0.0 0.0"/>
      <geometry>
        <sphere radius="0.03"/>
      </geometry>
    </collision>
  </link>
  <gazebo reference="omni_sphere11_left_rear">
    <material>Gazebo/Grey</material>
    <turnGravityOff>false</turnGravityOff>
  </gazebo>
  <joint name="omni_sphere11_joint_right_rear" type="continuous">
    <parent link="wheel_right_rear"/>
    <child link="omni_sphere11_right_rear"/>
    <axis xyz="0 1 0"/>
    <origin rpy="5.236 0 0" xyz="0.0 0.015 -0.026"/>
    <dynamics damping="0.01" friction="0.0"/>
    <limit effort="0.5" velocity="0.05"/>
  </joint>
  <link name="omni_sphere11_right_rear">
    <inertial>
      <origin rpy="0 0 0" xyz="0.0 0.0 0.0"/>
      <mass value="0.05"/>
      <inertia ixx="0.000018" ixy="0" ixz="0" iyy="0.000018" iyz="0" izz="0.000018"/>
    </inertial>
    <visual>
      <origin rpy="0 0 0" xyz="0.0 0.0 0.0"/>
      <geometry>
        <sphere radius="0.03"/>
      </geometry>
      <material name="Grey">
     </material>
    </visual>
    <collision>
      <origin rpy="0 0 0" xyz="0.0 0.0 0.0"/>
      <geometry>
        <sphere radius="0.03"/>
      </geometry>
    </collision>
  </link>
  <gazebo reference="omni_sphere11_right_rear">
    <material>Gazebo/Grey</material>
    <turnGravityOff>false</turnGravityOff>
  </gazebo>
  <joint name="omni_sphere12_joint_left_front" type="continuous">
    <parent link="wheel_left_front"/>
    <child link="omni_sphere12_left_front"/>
    <axis xyz="0 1 0"/>
    <origin rpy="5.7596 0 0" xyz="0.0 0.026 -0.015"/>
    <dynamics damping="0.01" friction="0.0"/>
    <limit effort="0.5" velocity="0.05"/>
  </joint>
  <link name="omni_sphere12_left_front">
    <inertial>
      <origin rpy="0 0 0" xyz="0.0 0.0 0.0"/>
      <mass value="0.05"/>
      <inertia ixx="0.000018" ixy="0" ixz="0" iyy="0.000018" iyz="0" izz="0.000018"/>
    </inertial>
    <visual>
      <origin rpy="0 0 0" xyz="0.0 0.0 0.0"/>
      <geometry>
        <sphere radius="0.03"/>
      </geometry>
      <material name="Grey">
     </material>
    </visual>
    <collision>
      <origin rpy="0 0 0" xyz="0.0 0.0 0.0"/>
      <geometry>
        <sphere radius="0.03"/>
      </geometry>
    </collision>
  </link>
  <gazebo reference="omni_sphere12_left_front">
    <material>Gazebo/Grey</material>
    <turnGravityOff>false</turnGravityOff>
  </gazebo>
  <joint name="omni_sphere12_joint_right_front" type="continuous">
    <parent link="wheel_right_front"/>
    <child link="omni_sphere12_right_front"/>
    <axis xyz="0 1 0"/>
    <origin rpy="5.7596 0 0" xyz="0.0 0.026 -0.015"/>
    <dynamics damping="0.01" friction="0.0"/>
    <limit effort="0.5" velocity="0.05"/>
  </joint>
  <link name="omni_sphere12_right_front">
    <inertial>
      <origin rpy="0 0 0" xyz="0.0 0.0 0.0"/>
      <mass value="0.05"/>
      <inertia ixx="0.000018" ixy="0" ixz="0" iyy="0.000018" iyz="0" izz="0.000018"/>
    </inertial>
    <visual>
      <origin rpy="0 0 0" xyz="0.0 0.0 0.0"/>
      <geometry>
        <sphere radius="0.03"/>
      </geometry>
      <material name="Grey">
     </material>
    </visual>
    <collision>
      <origin rpy="0 0 0" xyz="0.0 0.0 0.0"/>
      <geometry>
        <sphere radius="0.03"/>
      </geometry>
    </collision>
  </link>
  <gazebo reference="omni_sphere12_right_front">
    <material>Gazebo/Grey</material>
    <turnGravityOff>false</turnGravityOff>
  </gazebo>
  <joint name="omni_sphere12_joint_left_rear" type="continuous">
    <parent link="wheel_left_rear"/>
    <child link="omni_sphere12_left_rear"/>
    <axis xyz="0 1 0"/>
    <origin rpy="5.7596 0 0" xyz="0.0 0.026 -0.015"/>
    <dynamics damping="0.01" friction="0.0"/>
    <limit effort="0.5" velocity="0.05"/>
  </joint>
  <link name="omni_sphere12_left_rear">
    <inertial>
      <origin rpy="0 0 0" xyz="0.0 0.0 0.0"/>
      <mass value="0.05"/>
      <inertia ixx="0.000018" ixy="0" ixz="0" iyy="0.000018" iyz="0" izz="0.000018"/>
    </inertial>
    <visual>
      <origin rpy="0 0 0" xyz="0.0 0.0 0.0"/>
      <geometry>
        <sphere radius="0.03"/>
      </geometry>
      <material name="Grey">
     </material>
    </visual>
    <collision>
      <origin rpy="0 0 0" xyz="0.0 0.0 0.0"/>
      <geometry>
        <sphere radius="0.03"/>
      </geometry>
    </collision>
  </link>
  <gazebo reference="omni_sphere12_left_rear">
    <material>Gazebo/Grey</material>
    <turnGravityOff>false</turnGravityOff>
  </gazebo>
  <joint name="omni_sphere12_joint_right_rear" type="continuous">
    <parent link="wheel_right_rear"/>
    <child link="omni_sphere12_right_rear"/>
    <axis xyz="0 1 0"/>
    <origin rpy="5.7596 0 0" xyz="0.0 0.026 -0.015"/>
    <dynamics damping="0.01" friction="0.0"/>
    <limit effort="0.5" velocity="0.05"/>
  </joint>
  <link name="omni_sphere12_right_rear">
    <inertial>
      <origin rpy="0 0 0" xyz="0.0 0.0 0.0"/>
      <mass value="0.05"/>
      <inertia ixx="0.000018" ixy="0" ixz="0" iyy="0.000018" iyz="0" izz="0.000018"/>
    </inertial>
    <visual>
      <origin rpy="0 0 0" xyz="0.0 0.0 0.0"/>
      <geometry>
        <sphere radius="0.03"/>
      </geometry>
      <material name="Grey">
     </material>
    </visual>
    <collision>
      <origin rpy="0 0 0" xyz="0.0 0.0 0.0"/>
      <geometry>
        <sphere radius="0.03"/>
      </geometry>
    </collision>
  </link>
  <gazebo reference="omni_sphere12_right_rear">
    <material>Gazebo/Grey</material>
    <turnGravityOff>false</turnGravityOff>
  </gazebo>
  <joint name="wheel_inner_joint_left_front" type="continuous">
    <parent link="base"/>
    <child link="wheel_left_front"/>
    <axis xyz="1 0 0"/>
    <origin rpy="0 0 2.3562" xyz="-0.2 +0.2 0.005"/>
    <dynamics damping="1" friction="0.0"/>
    <limit effort="5.0" velocity="5.0"/>
  </joint>
  <link name="wheel_left_front">
    <inertial>
      <origin rpy="0 0 0" xyz="0.0 0.0 0.0"/>
      <mass value="0.5"/>
      <inertia ixx="0.0006" ixy="0" ixz="0" iyy="0.0006" iyz="0" izz="0.0006"/>
    </inertial>
    <visual>
      <origin rpy="0 1.5708 0" xyz="0.0 0.0 0.0"/>
      <geometry>
        <cylinder length="0.05" radius="0.05"/>
      </geometry>
      <material name="Grey">
     </material>
    </visual>
    <collision>
      <origin rpy="0 1.5708 0" xyz="0.0 0.0 0.0"/>
      <geometry>
        <cylinder length="0.05" radius="0.05"/>
      </geometry>
    </collision>
  </link>
  <gazebo reference="wheel_left_front">
    <material>Gazebo/Grey</material>
    <turnGravityOff>false</turnGravityOff>
  </gazebo>
  <joint name="wheel_inner_joint_right_front" type="continuous">
    <parent link="base"/>
    <child link="wheel_right_front"/>
    <axis xyz="1 0 0"/>
    <origin rpy="0 0 0.7854" xyz="+0.2 +0.2 0.005"/>
    <dynamics damping="1" friction="0.0"/>
    <limit effort="5.0" velocity="5.0"/>
  </joint>
  <link name="wheel_right_front">
    <inertial>
      <origin rpy="0 0 0" xyz="0.0 0.0 0.0"/>
      <mass value="0.5"/>
      <inertia ixx="0.0006" ixy="0" ixz="0" iyy="0.0006" iyz="0" izz="0.0006"/>
    </inertial>
    <visual>
      <origin rpy="0 1.5708 0" xyz="0.0 0.0 0.0"/>
      <geometry>
        <cylinder length="0.05" radius="0.05"/>
      </geometry>
      <material name="Grey">
     </material>
    </visual>
    <collision>
      <origin rpy="0 1.5708 0" xyz="0.0 0.0 0.0"/>
      <geometry>
        <cylinder length="0.05" radius="0.05"/>
      </geometry>
    </collision>
  </link>
  <gazebo reference="wheel_right_front">
    <material>Gazebo/Grey</material>
    <turnGravityOff>false</turnGravityOff>
  </gazebo>
  <joint name="wheel_inner_joint_left_rear" type="continuous">
    <parent link="base"/>
    <child link="wheel_left_rear"/>
    <axis xyz="1 0 0"/>
    <origin rpy="0 0 -2.3562" xyz="-0.2 -0.2 0.005"/>
    <dynamics damping="1" friction="0.0"/>
    <limit effort="5.0" velocity="5.0"/>
  </joint>
  <link name="wheel_left_rear">
    <inertial>
      <origin rpy="0 0 0" xyz="0.0 0.0 0.0"/>
      <mass value="0.5"/>
      <inertia ixx="0.0006" ixy="0" ixz="0" iyy="0.0006" iyz="0" izz="0.0006"/>
    </inertial>
    <visual>
      <origin rpy="0 1.5708 0" xyz="0.0 0.0 0.0"/>
      <geometry>
        <cylinder length="0.05" radius="0.05"/>
      </geometry>
      <material name="Grey">
     </material>
    </visual>
    <collision>
      <origin rpy="0 1.5708 0" xyz="0.0 0.0 0.0"/>
      <geometry>
        <cylinder length="0.05" radius="0.05"/>
      </geometry>
    </collision>
  </link>
  <gazebo reference="wheel_left_rear">
    <material>Gazebo/Grey</material>
    <turnGravityOff>false</turnGravityOff>
  </gazebo>
  <joint name="wheel_inner_joint_right_rear" type="continuous">
    <parent link="base"/>
    <child link="wheel_right_rear"/>
    <axis xyz="1 0 0"/>
    <origin rpy="0 0 -0.7854" xyz="+0.2 -0.2 0.005"/>
    <dynamics damping="1" friction="0.0"/>
    <limit effort="5.0" velocity="5.0"/>
  </joint>
  <link name="wheel_right_rear">
    <inertial>
      <origin rpy="0 0 0" xyz="0.0 0.0 0.0"/>
      <mass value="0.5"/>
      <inertia ixx="0.0006" ixy="0" ixz="0" iyy="0.0006" iyz="0" izz="0.0006"/>
    </inertial>
    <visual>
      <origin rpy="0 1.5708 0" xyz="0.0 0.0 0.0"/>
      <geometry>
        <cylinder length="0.05" radius="0.05"/>
      </geometry>
      <material name="Grey">
     </material>
    </visual>
    <collision>
      <origin rpy="0 1.5708 0" xyz="0.0 0.0 0.0"/>
      <geometry>
        <cylinder length="0.05" radius="0.05"/>
      </geometry>
    </collision>
  </link>
  <gazebo reference="wheel_right_rear">
    <material>Gazebo/Grey</material>
    <turnGravityOff>false</turnGravityOff>
  </gazebo>
  <transmission name="spindle_trans" type="pr2_mechanism_model/SimpleTransmission">
    <actuator name="spindle_motor"/>
    <joint name="spindle_joint"/>
    <mechanicalReduction>1</mechanicalReduction>
    <motorTorqueConstant>1</motorTorqueConstant>
  </transmission>
  <transmission name="shoulder_yaw_trans_left" type="pr2_mechanism_model/SimpleTransmission">
    <actuator name="shoulder_yaw_motor_left"/>
    <joint name="shoulder_yaw_joint_left"/>
    <mechanicalReduction>1</mechanicalReduction>
    <motorTorqueConstant>1</motorTorqueConstant>
  </transmission>
  <transmission name="shoulder_pitch_trans_left" type="pr2_mechanism_model/SimpleTransmission">
    <actuator name="shoulder_pitch_motor_left"/>
    <joint name="shoulder_pitch_joint_left"/>
    <mechanicalReduction>1</mechanicalReduction>
    <motorTorqueConstant>1</motorTorqueConstant>
  </transmission>
  <transmission name="shoulder_roll_trans_left" type="pr2_mechanism_model/SimpleTransmission">
    <actuator name="shoulder_roll_motor_left"/>
    <joint name="shoulder_roll_joint_left"/>
    <mechanicalReduction>1</mechanicalReduction>
    <motorTorqueConstant>1</motorTorqueConstant>
  </transmission>
  <transmission name="elbow_pitch_trans_left" type="pr2_mechanism_model/SimpleTransmission">
    <actuator name="elbow_pitch_motor_left"/>
    <joint name="elbow_pitch_joint_left"/>
    <mechanicalReduction>1</mechanicalReduction>
    <motorTorqueConstant>1</motorTorqueConstant>
  </transmission>
  <transmission name="elbow_roll_trans_left" type="pr2_mechanism_model/SimpleTransmission">
    <actuator name="elbow_roll_motor_left"/>
    <joint name="elbow_roll_joint_left"/>
    <mechanicalReduction>1</mechanicalReduction>
    <motorTorqueConstant>1</motorTorqueConstant>
  </transmission>
  <transmission name="wrist_yaw_trans_left" type="pr2_mechanism_model/SimpleTransmission">
    <actuator name="wrist_yaw_motor_left"/>
    <joint name="wrist_yaw_joint_left"/>
    <mechanicalReduction>1</mechanicalReduction>
    <motorTorqueConstant>1</motorTorqueConstant>
  </transmission>
  <transmission name="wrist_pitch_trans_left" type="pr2_mechanism_model/SimpleTransmission">
    <actuator name="wrist_pitch_motor_left"/>
    <joint name="wrist_pitch_joint_left"/>
    <mechanicalReduction>1</mechanicalReduction>
    <motorTorqueConstant>1</motorTorqueConstant>
  </transmission>
  <transmission name="finger1_trans_left" type="pr2_mechanism_model/SimpleTransmission">
    <actuator name="finger1_motor_left"/>
    <joint name="finger1_joint_left"/>
    <mechanicalReduction>1</mechanicalReduction>
    <motorTorqueConstant>1</motorTorqueConstant>
  </transmission>
  <transmission name="finger2_trans_left" type="pr2_mechanism_model/SimpleTransmission">
    <actuator name="finger2_motor_left"/>
    <joint name="finger2_joint_left"/>
    <mechanicalReduction>1</mechanicalReduction>
    <motorTorqueConstant>1</motorTorqueConstant>
  </transmission>
  <transmission name="finger1_tip_trans_left" type="pr2_mechanism_model/SimpleTransmission">
    <actuator name="finger1_tip_motor_left"/>
    <joint name="finger1_tip_joint_left"/>
    <mechanicalReduction>1</mechanicalReduction>
    <motorTorqueConstant>1</motorTorqueConstant>
  </transmission>
  <transmission name="finger2_tip_trans_left" type="pr2_mechanism_model/SimpleTransmission">
    <actuator name="finger2_tip_motor_left"/>
    <joint name="finger2_tip_joint_left"/>
    <mechanicalReduction>1</mechanicalReduction>
    <motorTorqueConstant>1</motorTorqueConstant>
  </transmission>
  <transmission name="shoulder_yaw_trans_right" type="pr2_mechanism_model/SimpleTransmission">
    <actuator name="shoulder_yaw_motor_right"/>
    <joint name="shoulder_yaw_joint_right"/>
    <mechanicalReduction>1</mechanicalReduction>
    <motorTorqueConstant>1</motorTorqueConstant>
  </transmission>
  <transmission name="shoulder_pitch_trans_right" type="pr2_mechanism_model/SimpleTransmission">
    <actuator name="shoulder_pitch_motor_right"/>
    <joint name="shoulder_pitch_joint_right"/>
    <mechanicalReduction>1</mechanicalReduction>
    <motorTorqueConstant>1</motorTorqueConstant>
  </transmission>
  <transmission name="shoulder_roll_trans_right" type="pr2_mechanism_model/SimpleTransmission">
    <actuator name="shoulder_roll_motor_right"/>
    <joint name="shoulder_roll_joint_right"/>
    <mechanicalReduction>1</mechanicalReduction>
    <motorTorqueConstant>1</motorTorqueConstant>
  </transmission>
  <transmission name="elbow_pitch_trans_right" type="pr2_mechanism_model/SimpleTransmission">
    <actuator name="elbow_pitch_motor_right"/>
    <joint name="elbow_pitch_joint_right"/>
    <mechanicalReduction>1</mechanicalReduction>
    <motorTorqueConstant>1</motorTorqueConstant>
  </transmission>
  <transmission name="elbow_roll_trans_right" type="pr2_mechanism_model/SimpleTransmission">
    <actuator name="elbow_roll_motor_right"/>
    <joint name="elbow_roll_joint_right"/>
    <mechanicalReduction>1</mechanicalReduction>
    <motorTorqueConstant>1</motorTorqueConstant>
  </transmission>
  <transmission name="wrist_yaw_trans_right" type="pr2_mechanism_model/SimpleTransmission">
    <actuator name="wrist_yaw_motor_right"/>
    <joint name="wrist_yaw_joint_right"/>
    <mechanicalReduction>1</mechanicalReduction>
    <motorTorqueConstant>1</motorTorqueConstant>
  </transmission>
  <transmission name="wrist_pitch_trans_right" type="pr2_mechanism_model/SimpleTransmission">
    <actuator name="wrist_pitch_motor_right"/>
    <joint name="wrist_pitch_joint_right"/>
    <mechanicalReduction>1</mechanicalReduction>
    <motorTorqueConstant>1</motorTorqueConstant>
  </transmission>
  <transmission name="finger1_trans_right" type="pr2_mechanism_model/SimpleTransmission">
    <actuator name="finger1_motor_right"/>
    <joint name="finger1_joint_right"/>
    <mechanicalReduction>1</mechanicalReduction>
    <motorTorqueConstant>1</motorTorqueConstant>
  </transmission>
  <transmission name="finger2_trans_right" type="pr2_mechanism_model/SimpleTransmission">
    <actuator name="finger2_motor_right"/>
    <joint name="finger2_joint_right"/>
    <mechanicalReduction>1</mechanicalReduction>
    <motorTorqueConstant>1</motorTorqueConstant>
  </transmission>
  <transmission name="finger1_tip_trans_right" type="pr2_mechanism_model/SimpleTransmission">
    <actuator name="finger1_tip_motor_right"/>
    <joint name="finger1_tip_joint_right"/>
    <mechanicalReduction>1</mechanicalReduction>
    <motorTorqueConstant>1</motorTorqueConstant>
  </transmission>
  <transmission name="finger2_tip_trans_right" type="pr2_mechanism_model/SimpleTransmission">
    <actuator name="finger2_tip_motor_right"/>
    <joint name="finger2_tip_joint_right"/>
    <mechanicalReduction>1</mechanicalReduction>
    <motorTorqueConstant>1</motorTorqueConstant>
  </transmission>
  <transmission name="wheel_inner_trans_left_front" type="pr2_mechanism_model/SimpleTransmission">
    <actuator name="wheel_inner_motor_left_front"/>
    <joint name="wheel_inner_joint_left_front"/>
    <mechanicalReduction>1</mechanicalReduction>
    <motorTorqueConstant>1</motorTorqueConstant>
  </transmission>
  <transmission name="wheel_inner_trans_right_front" type="pr2_mechanism_model/SimpleTransmission">
    <actuator name="wheel_inner_motor_right_front"/>
    <joint name="wheel_inner_joint_right_front"/>
    <mechanicalReduction>1</mechanicalReduction>
    <motorTorqueConstant>1</motorTorqueConstant>
  </transmission>
  <transmission name="wheel_inner_trans_left_rear" type="pr2_mechanism_model/SimpleTransmission">
    <actuator name="wheel_inner_motor_left_rear"/>
    <joint name="wheel_inner_joint_left_rear"/>
    <mechanicalReduction>1</mechanicalReduction>
    <motorTorqueConstant>1</motorTorqueConstant>
  </transmission>
  <transmission name="wheel_inner_trans_right_rear" type="pr2_mechanism_model/SimpleTransmission">
    <actuator name="wheel_inner_motor_right_rear"/>
    <joint name="wheel_inner_joint_right_rear"/>
    <mechanicalReduction>1</mechanicalReduction>
    <motorTorqueConstant>1</motorTorqueConstant>
  </transmission>
  <transmission name="omniwheel_trans_left_front" type="pr2_mechanism_model/SimpleTransmission">
    <actuator name="omniwheel_motor_left_front"/>
    <joint name="omni_sphere1_joint_left_front"/>
    <mechanicalReduction>1</mechanicalReduction>
    <motorTorqueConstant>1</motorTorqueConstant>
  </transmission>
  <transmission name="omniwheel_trans_right_front" type="pr2_mechanism_model/SimpleTransmission">
    <actuator name="omniwheel_motor_right_front"/>
    <joint name="omni_sphere1_joint_right_front"/>
    <mechanicalReduction>1</mechanicalReduction>
    <motorTorqueConstant>1</motorTorqueConstant>
  </transmission>
  <transmission name="omniwheel_trans_left_rear" type="pr2_mechanism_model/SimpleTransmission">
    <actuator name="omniwheel_motor_left_rear"/>
    <joint name="omni_sphere1_joint_left_rear"/>
    <mechanicalReduction>1</mechanicalReduction>
    <motorTorqueConstant>1</motorTorqueConstant>
  </transmission>
  <transmission name="omniwheel_trans_right_rear" type="pr2_mechanism_model/SimpleTransmission">
    <actuator name="omniwheel_motor_right_rear"/>
    <joint name="omni_sphere1_joint_right_rear"/>
    <mechanicalReduction>1</mechanicalReduction>
    <motorTorqueConstant>1</motorTorqueConstant>
  </transmission>
  <transmission name="omniwheel_trans_left_front" type="pr2_mechanism_model/SimpleTransmission">
    <actuator name="omniwheel_motor_left_front"/>
    <joint name="omni_sphere2_joint_left_front"/>
    <mechanicalReduction>1</mechanicalReduction>
    <motorTorqueConstant>1</motorTorqueConstant>
  </transmission>
  <transmission name="omniwheel_trans_right_front" type="pr2_mechanism_model/SimpleTransmission">
    <actuator name="omniwheel_motor_right_front"/>
    <joint name="omni_sphere2_joint_right_front"/>
    <mechanicalReduction>1</mechanicalReduction>
    <motorTorqueConstant>1</motorTorqueConstant>
  </transmission>
  <transmission name="omniwheel_trans_left_rear" type="pr2_mechanism_model/SimpleTransmission">
    <actuator name="omniwheel_motor_left_rear"/>
    <joint name="omni_sphere2_joint_left_rear"/>
    <mechanicalReduction>1</mechanicalReduction>
    <motorTorqueConstant>1</motorTorqueConstant>
  </transmission>
  <transmission name="omniwheel_trans_right_rear" type="pr2_mechanism_model/SimpleTransmission">
    <actuator name="omniwheel_motor_right_rear"/>
    <joint name="omni_sphere2_joint_right_rear"/>
    <mechanicalReduction>1</mechanicalReduction>
    <motorTorqueConstant>1</motorTorqueConstant>
  </transmission>
  <transmission name="omniwheel_trans_left_front" type="pr2_mechanism_model/SimpleTransmission">
    <actuator name="omniwheel_motor_left_front"/>
    <joint name="omni_sphere3_joint_left_front"/>
    <mechanicalReduction>1</mechanicalReduction>
    <motorTorqueConstant>1</motorTorqueConstant>
  </transmission>
  <transmission name="omniwheel_trans_right_front" type="pr2_mechanism_model/SimpleTransmission">
    <actuator name="omniwheel_motor_right_front"/>
    <joint name="omni_sphere3_joint_right_front"/>
    <mechanicalReduction>1</mechanicalReduction>
    <motorTorqueConstant>1</motorTorqueConstant>
  </transmission>
  <transmission name="omniwheel_trans_left_rear" type="pr2_mechanism_model/SimpleTransmission">
    <actuator name="omniwheel_motor_left_rear"/>
    <joint name="omni_sphere3_joint_left_rear"/>
    <mechanicalReduction>1</mechanicalReduction>
    <motorTorqueConstant>1</motorTorqueConstant>
  </transmission>
  <transmission name="omniwheel_trans_right_rear" type="pr2_mechanism_model/SimpleTransmission">
    <actuator name="omniwheel_motor_right_rear"/>
    <joint name="omni_sphere3_joint_right_rear"/>
    <mechanicalReduction>1</mechanicalReduction>
    <motorTorqueConstant>1</motorTorqueConstant>
  </transmission>
  <transmission name="omniwheel_trans_left_front" type="pr2_mechanism_model/SimpleTransmission">
    <actuator name="omniwheel_motor_left_front"/>
    <joint name="omni_sphere4_joint_left_front"/>
    <mechanicalReduction>1</mechanicalReduction>
    <motorTorqueConstant>1</motorTorqueConstant>
  </transmission>
  <transmission name="omniwheel_trans_right_front" type="pr2_mechanism_model/SimpleTransmission">
    <actuator name="omniwheel_motor_right_front"/>
    <joint name="omni_sphere4_joint_right_front"/>
    <mechanicalReduction>1</mechanicalReduction>
    <motorTorqueConstant>1</motorTorqueConstant>
  </transmission>
  <transmission name="omniwheel_trans_left_rear" type="pr2_mechanism_model/SimpleTransmission">
    <actuator name="omniwheel_motor_left_rear"/>
    <joint name="omni_sphere4_joint_left_rear"/>
    <mechanicalReduction>1</mechanicalReduction>
    <motorTorqueConstant>1</motorTorqueConstant>
  </transmission>
  <transmission name="omniwheel_trans_right_rear" type="pr2_mechanism_model/SimpleTransmission">
    <actuator name="omniwheel_motor_right_rear"/>
    <joint name="omni_sphere4_joint_right_rear"/>
    <mechanicalReduction>1</mechanicalReduction>
    <motorTorqueConstant>1</motorTorqueConstant>
  </transmission>
  <transmission name="omniwheel_trans_left_front" type="pr2_mechanism_model/SimpleTransmission">
    <actuator name="omniwheel_motor_left_front"/>
    <joint name="omni_sphere5_joint_left_front"/>
    <mechanicalReduction>1</mechanicalReduction>
    <motorTorqueConstant>1</motorTorqueConstant>
  </transmission>
  <transmission name="omniwheel_trans_right_front" type="pr2_mechanism_model/SimpleTransmission">
    <actuator name="omniwheel_motor_right_front"/>
    <joint name="omni_sphere5_joint_right_front"/>
    <mechanicalReduction>1</mechanicalReduction>
    <motorTorqueConstant>1</motorTorqueConstant>
  </transmission>
  <transmission name="omniwheel_trans_left_rear" type="pr2_mechanism_model/SimpleTransmission">
    <actuator name="omniwheel_motor_left_rear"/>
    <joint name="omni_sphere5_joint_left_rear"/>
    <mechanicalReduction>1</mechanicalReduction>
    <motorTorqueConstant>1</motorTorqueConstant>
  </transmission>
  <transmission name="omniwheel_trans_right_rear" type="pr2_mechanism_model/SimpleTransmission">
    <actuator name="omniwheel_motor_right_rear"/>
    <joint name="omni_sphere5_joint_right_rear"/>
    <mechanicalReduction>1</mechanicalReduction>
    <motorTorqueConstant>1</motorTorqueConstant>
  </transmission>
  <transmission name="omniwheel_trans_left_front" type="pr2_mechanism_model/SimpleTransmission">
    <actuator name="omniwheel_motor_left_front"/>
    <joint name="omni_sphere6_joint_left_front"/>
    <mechanicalReduction>1</mechanicalReduction>
    <motorTorqueConstant>1</motorTorqueConstant>
  </transmission>
  <transmission name="omniwheel_trans_right_front" type="pr2_mechanism_model/SimpleTransmission">
    <actuator name="omniwheel_motor_right_front"/>
    <joint name="omni_sphere6_joint_right_front"/>
    <mechanicalReduction>1</mechanicalReduction>
    <motorTorqueConstant>1</motorTorqueConstant>
  </transmission>
  <transmission name="omniwheel_trans_left_rear" type="pr2_mechanism_model/SimpleTransmission">
    <actuator name="omniwheel_motor_left_rear"/>
    <joint name="omni_sphere6_joint_left_rear"/>
    <mechanicalReduction>1</mechanicalReduction>
    <motorTorqueConstant>1</motorTorqueConstant>
  </transmission>
  <transmission name="omniwheel_trans_right_rear" type="pr2_mechanism_model/SimpleTransmission">
    <actuator name="omniwheel_motor_right_rear"/>
    <joint name="omni_sphere6_joint_right_rear"/>
    <mechanicalReduction>1</mechanicalReduction>
    <motorTorqueConstant>1</motorTorqueConstant>
  </transmission>
  <transmission name="omniwheel_trans_left_front" type="pr2_mechanism_model/SimpleTransmission">
    <actuator name="omniwheel_motor_left_front"/>
    <joint name="omni_sphere7_joint_left_front"/>
    <mechanicalReduction>1</mechanicalReduction>
    <motorTorqueConstant>1</motorTorqueConstant>
  </transmission>
  <transmission name="omniwheel_trans_right_front" type="pr2_mechanism_model/SimpleTransmission">
    <actuator name="omniwheel_motor_right_front"/>
    <joint name="omni_sphere7_joint_right_front"/>
    <mechanicalReduction>1</mechanicalReduction>
    <motorTorqueConstant>1</motorTorqueConstant>
  </transmission>
  <transmission name="omniwheel_trans_left_rear" type="pr2_mechanism_model/SimpleTransmission">
    <actuator name="omniwheel_motor_left_rear"/>
    <joint name="omni_sphere7_joint_left_rear"/>
    <mechanicalReduction>1</mechanicalReduction>
    <motorTorqueConstant>1</motorTorqueConstant>
  </transmission>
  <transmission name="omniwheel_trans_right_rear" type="pr2_mechanism_model/SimpleTransmission">
    <actuator name="omniwheel_motor_right_rear"/>
    <joint name="omni_sphere7_joint_right_rear"/>
    <mechanicalReduction>1</mechanicalReduction>
    <motorTorqueConstant>1</motorTorqueConstant>
  </transmission>
  <transmission name="omniwheel_trans_left_front" type="pr2_mechanism_model/SimpleTransmission">
    <actuator name="omniwheel_motor_left_front"/>
    <joint name="omni_sphere8_joint_left_front"/>
    <mechanicalReduction>1</mechanicalReduction>
    <motorTorqueConstant>1</motorTorqueConstant>
  </transmission>
  <transmission name="omniwheel_trans_right_front" type="pr2_mechanism_model/SimpleTransmission">
    <actuator name="omniwheel_motor_right_front"/>
    <joint name="omni_sphere8_joint_right_front"/>
    <mechanicalReduction>1</mechanicalReduction>
    <motorTorqueConstant>1</motorTorqueConstant>
  </transmission>
  <transmission name="omniwheel_trans_left_rear" type="pr2_mechanism_model/SimpleTransmission">
    <actuator name="omniwheel_motor_left_rear"/>
    <joint name="omni_sphere8_joint_left_rear"/>
    <mechanicalReduction>1</mechanicalReduction>
    <motorTorqueConstant>1</motorTorqueConstant>
  </transmission>
  <transmission name="omniwheel_trans_right_rear" type="pr2_mechanism_model/SimpleTransmission">
    <actuator name="omniwheel_motor_right_rear"/>
    <joint name="omni_sphere8_joint_right_rear"/>
    <mechanicalReduction>1</mechanicalReduction>
    <motorTorqueConstant>1</motorTorqueConstant>
  </transmission>
  <transmission name="omniwheel_trans_left_front" type="pr2_mechanism_model/SimpleTransmission">
    <actuator name="omniwheel_motor_left_front"/>
    <joint name="omni_sphere9_joint_left_front"/>
    <mechanicalReduction>1</mechanicalReduction>
    <motorTorqueConstant>1</motorTorqueConstant>
  </transmission>
  <transmission name="omniwheel_trans_right_front" type="pr2_mechanism_model/SimpleTransmission">
    <actuator name="omniwheel_motor_right_front"/>
    <joint name="omni_sphere9_joint_right_front"/>
    <mechanicalReduction>1</mechanicalReduction>
    <motorTorqueConstant>1</motorTorqueConstant>
  </transmission>
  <transmission name="omniwheel_trans_left_rear" type="pr2_mechanism_model/SimpleTransmission">
    <actuator name="omniwheel_motor_left_rear"/>
    <joint name="omni_sphere9_joint_left_rear"/>
    <mechanicalReduction>1</mechanicalReduction>
    <motorTorqueConstant>1</motorTorqueConstant>
  </transmission>
  <transmission name="omniwheel_trans_right_rear" type="pr2_mechanism_model/SimpleTransmission">
    <actuator name="omniwheel_motor_right_rear"/>
    <joint name="omni_sphere9_joint_right_rear"/>
    <mechanicalReduction>1</mechanicalReduction>
    <motorTorqueConstant>1</motorTorqueConstant>
  </transmission>
  <transmission name="omniwheel_trans_left_front" type="pr2_mechanism_model/SimpleTransmission">
    <actuator name="omniwheel_motor_left_front"/>
    <joint name="omni_sphere10_joint_left_front"/>
    <mechanicalReduction>1</mechanicalReduction>
    <motorTorqueConstant>1</motorTorqueConstant>
  </transmission>
  <transmission name="omniwheel_trans_right_front" type="pr2_mechanism_model/SimpleTransmission">
    <actuator name="omniwheel_motor_right_front"/>
    <joint name="omni_sphere10_joint_right_front"/>
    <mechanicalReduction>1</mechanicalReduction>
    <motorTorqueConstant>1</motorTorqueConstant>
  </transmission>
  <transmission name="omniwheel_trans_left_rear" type="pr2_mechanism_model/SimpleTransmission">
    <actuator name="omniwheel_motor_left_rear"/>
    <joint name="omni_sphere10_joint_left_rear"/>
    <mechanicalReduction>1</mechanicalReduction>
    <motorTorqueConstant>1</motorTorqueConstant>
  </transmission>
  <transmission name="omniwheel_trans_right_rear" type="pr2_mechanism_model/SimpleTransmission">
    <actuator name="omniwheel_motor_right_rear"/>
    <joint name="omni_sphere10_joint_right_rear"/>
    <mechanicalReduction>1</mechanicalReduction>
    <motorTorqueConstant>1</motorTorqueConstant>
  </transmission>
  <transmission name="omniwheel_trans_left_front" type="pr2_mechanism_model/SimpleTransmission">
    <actuator name="omniwheel_motor_left_front"/>
    <joint name="omni_sphere11_joint_left_front"/>
    <mechanicalReduction>1</mechanicalReduction>
    <motorTorqueConstant>1</motorTorqueConstant>
  </transmission>
  <transmission name="omniwheel_trans_right_front" type="pr2_mechanism_model/SimpleTransmission">
    <actuator name="omniwheel_motor_right_front"/>
    <joint name="omni_sphere11_joint_right_front"/>
    <mechanicalReduction>1</mechanicalReduction>
    <motorTorqueConstant>1</motorTorqueConstant>
  </transmission>
  <transmission name="omniwheel_trans_left_rear" type="pr2_mechanism_model/SimpleTransmission">
    <actuator name="omniwheel_motor_left_rear"/>
    <joint name="omni_sphere11_joint_left_rear"/>
    <mechanicalReduction>1</mechanicalReduction>
    <motorTorqueConstant>1</motorTorqueConstant>
  </transmission>
  <transmission name="omniwheel_trans_right_rear" type="pr2_mechanism_model/SimpleTransmission">
    <actuator name="omniwheel_motor_right_rear"/>
    <joint name="omni_sphere11_joint_right_rear"/>
    <mechanicalReduction>1</mechanicalReduction>
    <motorTorqueConstant>1</motorTorqueConstant>
  </transmission>
  <transmission name="omniwheel_trans_left_front" type="pr2_mechanism_model/SimpleTransmission">
    <actuator name="omniwheel_motor_left_front"/>
    <joint name="omni_sphere12_joint_left_front"/>
    <mechanicalReduction>1</mechanicalReduction>
    <motorTorqueConstant>1</motorTorqueConstant>
  </transmission>
  <transmission name="omniwheel_trans_right_front" type="pr2_mechanism_model/SimpleTransmission">
    <actuator name="omniwheel_motor_right_front"/>
    <joint name="omni_sphere12_joint_right_front"/>
    <mechanicalReduction>1</mechanicalReduction>
    <motorTorqueConstant>1</motorTorqueConstant>
  </transmission>
  <transmission name="omniwheel_trans_left_rear" type="pr2_mechanism_model/SimpleTransmission">
    <actuator name="omniwheel_motor_left_rear"/>
    <joint name="omni_sphere12_joint_left_rear"/>
    <mechanicalReduction>1</mechanicalReduction>
    <motorTorqueConstant>1</motorTorqueConstant>
  </transmission>
  <transmission name="omniwheel_trans_right_rear" type="pr2_mechanism_model/SimpleTransmission">
    <actuator name="omniwheel_motor_right_rear"/>
    <joint name="omni_sphere12_joint_right_rear"/>
    <mechanicalReduction>1</mechanicalReduction>
    <motorTorqueConstant>1</motorTorqueConstant>
  </transmission>
  <transmission name="neck_trans" type="pr2_mechanism_model/SimpleTransmission">
    <actuator name="neck_motor"/>
    <joint name="neck_pan_joint"/>
    <mechanicalReduction>1</mechanicalReduction>
    <motorTorqueConstant>1</motorTorqueConstant>
  </transmission>
  <transmission name="head_trans" type="pr2_mechanism_model/SimpleTransmission">
    <actuator name="head_motor"/>
    <joint name="neck_tilt_joint"/>
    <mechanicalReduction>1</mechanicalReduction>
    <motorTorqueConstant>1</motorTorqueConstant>
  </transmission>
  <joint name="marker_joint_left" type="fixed">
    <parent link="grippoint_left"/>
    <child link="hand_marker_left"/>
    <origin rpy="0 0 0" xyz="0.0 0.0 0.0"/>
  </joint>
  <link name="hand_marker_left">
    <inertial>
      <origin rpy="0 0 0" xyz="0.0 0.0 0.0"/>
      <mass value="1e-05"/>
      <inertia ixx="0.001" ixy="0" ixz="0" iyy="0.001" iyz="0" izz="0.001"/>
    </inertial>
    <visual>
      <origin rpy="0 0 0" xyz="0.0 0.0 0.0"/>
      <geometry>
        <cylinder length="0.0" radius="0.0"/>
      </geometry>
      <material name="Grey">
     </material>
    </visual>
    <collision>
      <origin rpy="0 0 0" xyz="0.0 0.0 0.0"/>
      <geometry>
        <cylinder length="0.0" radius="0.0"/>
      </geometry>
    </collision>
  </link>
  <gazebo reference="hand_marker_left">
    <material>Gazebo/Grey</material>
    <turnGravityOff>false</turnGravityOff>
  </gazebo>
  <joint name="marker_joint_right" type="fixed">
    <parent link="grippoint_right"/>
    <child link="hand_marker_right"/>
    <origin rpy="0 0 0" xyz="0.0 0.0 0.0"/>
  </joint>
  <link name="hand_marker_right">
    <inertial>
      <origin rpy="0 0 0" xyz="0.0 0.0 0.0"/>
      <mass value="1e-05"/>
      <inertia ixx="0.001" ixy="0" ixz="0" iyy="0.001" iyz="0" izz="0.001"/>
    </inertial>
    <visual>
      <origin rpy="0 0 0" xyz="0.0 0.0 0.0"/>
      <geometry>
        <cylinder length="0.0" radius="0.0"/>
      </geometry>
      <material name="Grey">
     </material>
    </visual>
    <collision>
      <origin rpy="0 0 0" xyz="0.0 0.0 0.0"/>
      <geometry>
        <cylinder length="0.0" radius="0.0"/>
      </geometry>
    </collision>
  </link>
  <gazebo reference="hand_marker_right">
    <material>Gazebo/Grey</material>
    <turnGravityOff>false</turnGravityOff>
  </gazebo>
</robot>
